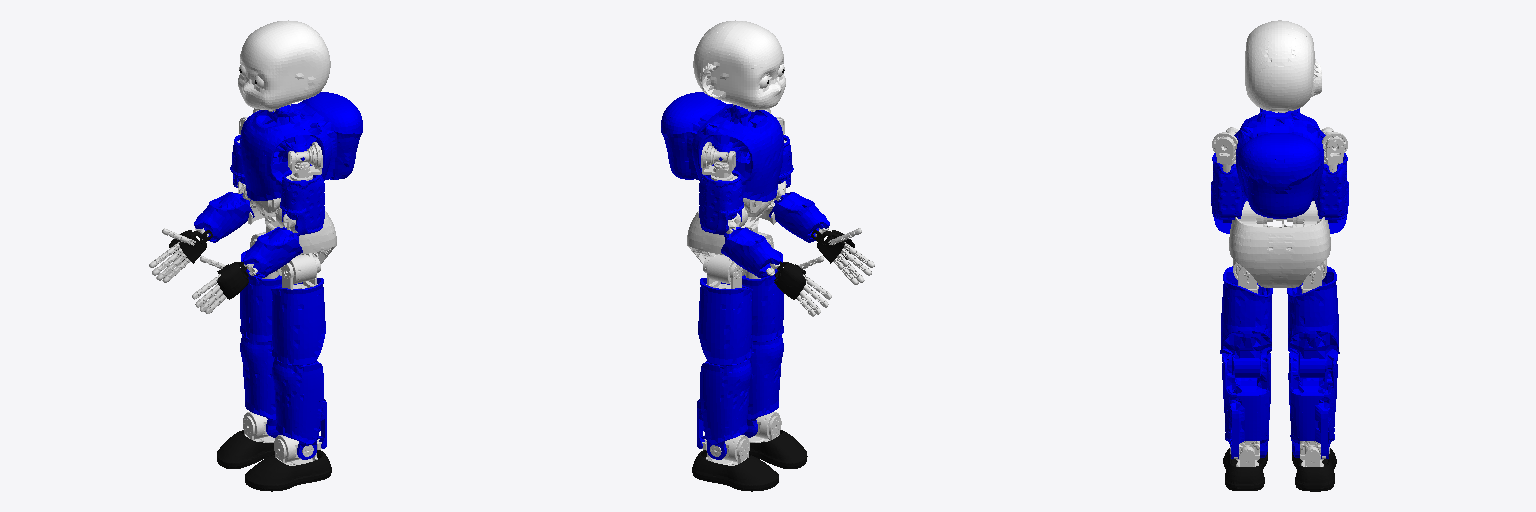
--- What the picture shows (computed from the rendered views, not written in the file) ---
3 views of the same robot in one strip: view 1: azimuth 30°, elevation 25°; view 2: azimuth 150°, elevation 25°; view 3: azimuth 270°, elevation 25° (orthographic).
Robot: iCub — 103 links, 102 joints (75 revolute, 27 fixed); root link world; default pose: all joints at 0 but 2 set to mid-range because 0 is outside their limits (r_elbow = 1.06, l_elbow = 1.06).
Visible links, largest first — view 1: chest, head, l_lower_leg, l_upper_leg, r_lower_leg, l_upper_arm, l_foot, r_upper_leg, l_forearm, r_forearm, root_link, r_foot (+4 smaller); view 2: chest, head, r_lower_leg, r_upper_leg, l_lower_leg, r_upper_arm, r_foot, l_upper_leg, r_forearm, l_forearm, root_link, l_foot (+4 smaller); view 3: chest, root_link, head, l_upper_leg, r_upper_leg, l_lower_leg, r_lower_leg, r_upper_arm, l_upper_arm, r_foot, l_foot, l_shoulder_2 (+1 smaller).
Boxes of the visible links, x1,y1,x2,y2 form: chest: [240, 92, 362, 200]; head: [238, 20, 330, 109]; l_lower_leg: [272, 359, 326, 459]; l_upper_leg: [271, 278, 325, 365]; r_lower_leg: [240, 335, 281, 437]; l_upper_arm: [280, 170, 324, 234]; l_foot: [245, 450, 331, 491]; r_upper_leg: [240, 251, 281, 341]; l_forearm: [243, 227, 302, 277]; r_forearm: [194, 192, 254, 242]; root_link: [248, 200, 336, 263]; r_foot: [217, 430, 274, 468]; chest: [661, 92, 783, 201]; head: [693, 20, 785, 109]; r_lower_leg: [697, 359, 751, 459]; r_upper_leg: [698, 278, 752, 365]; l_lower_leg: [742, 335, 783, 437]; r_upper_arm: [699, 170, 743, 234]; r_foot: [692, 450, 778, 491]; l_upper_leg: [742, 250, 783, 341]; r_forearm: [721, 227, 780, 277]; l_forearm: [769, 192, 829, 242]; root_link: [687, 200, 775, 263]; l_foot: [749, 430, 807, 468]; chest: [1234, 108, 1325, 218]; root_link: [1229, 201, 1330, 287]; head: [1245, 20, 1321, 111]; l_upper_leg: [1220, 266, 1272, 377]; r_upper_leg: [1287, 266, 1339, 377]; l_lower_leg: [1222, 352, 1270, 458]; r_lower_leg: [1288, 352, 1337, 458]; r_upper_arm: [1312, 153, 1348, 219]; l_upper_arm: [1211, 153, 1247, 219]; r_foot: [1292, 448, 1336, 491]; l_foot: [1223, 448, 1267, 490]; l_shoulder_2: [1212, 127, 1238, 164].
Bounding box of the posed robot: 0.4793 × 0.2988 × 1.08 m (x, y, z).
83 mesh visuals loaded from 83 distinct referenced files (83 OBJ).

URDF robot description (iCub):
<robot name="iCub">
<link name="world">
    <inertial>
        <mass value="0.0"/>
        <inertia ixx="0.0" ixy="0.0" ixz="0.0" iyy="0.0" iyz="0.0" izz="0.0"/>
    </inertial>
</link>
<link name="root_link">
    <inertial>
        <origin xyz="0.0248821 0.000103947 -0.0440806" rpy="1.57079632679 0.0 -1.57079632679"/>
        <mass value="5.09143"/>
        <inertia ixx="0.0139679" ixy="-5.93488e-06" ixz="-1.55458e-05" iyy="0.0202112" iyz="-0.00170968" izz="0.0249124"/>
    </inertial>
    <visual>
        <origin xyz="-0.0364 0.0 0.032" rpy="1.57079632679 0.0 -1.57079632679"/>
        <geometry>
            <mesh filename="package://iCub/meshes/visual/sim_sea_2-5_root_link_prt-binary.obj" scale="0.001 0.001 0.001"/>
        </geometry>
        <material name="root_link_color">
            <color rgba="0.9 0.9 0.9 1.0"/>
        </material>
    </visual>
    <collision>
        <origin xyz="-0.0364 0.0 0.032" rpy="1.57079632679 0.0 -1.57079632679"/>
        <geometry>
            <mesh filename="package://iCub/meshes/vhacd/sim_sea_2-5_root_link_prt-binary_vhacd.obj" scale="0.001 0.001 0.001"/>
        </geometry>
    </collision>
</link>
<link name="r_hip_1">
    <inertial>
        <origin xyz="-0.0005145 -0.0380753 -7.1e-05" rpy="1.57079632679 0.0 1.57079632679"/>
        <mass value="0.919978"/>
        <inertia ixx="0.000404268" ixy="-1.26852e-06" ixz="1.11055e-06" iyy="0.000574741" iyz="-7.69474e-07" izz="0.000580025"/>
    </inertial>
    <visual>
        <origin xyz="0.0428515000001 0.026 0.151913" rpy="1.57079632679 0.0 1.57079632679"/>
        <geometry>
            <mesh filename="package://iCub/meshes/visual/sim_sea_2-5_r_hip_1_prt-binary.obj" scale="0.001 0.001 0.001"/>
        </geometry>
        <material name="r_hip_1_color">
            <color rgba="0.9 0.9 0.9 1.0"/>
        </material>
    </visual>
    <collision>
        <origin xyz="0.0428515000001 0.026 0.151913" rpy="1.57079632679 0.0 1.57079632679"/>
        <geometry>
            <mesh filename="package://iCub/meshes/vhacd/sim_sea_2-5_r_hip_1_prt-binary_vhacd.obj" scale="0.001 0.001 0.001"/>
        </geometry>
    </collision>
</link>
<link name="r_hip_2">
    <inertial>
        <origin xyz="-0.0009315 8.09999999998e-06 -0.044809" rpy="1.57079632679 0.0 1.57079632679"/>
        <mass value="0.413242"/>
        <inertia ixx="0.00046914" ixy="-4.76597e-08" ixz="7.12496e-08" iyy="0.000277108" iyz="3.3401e-06" izz="0.000303891"/>
    </inertial>
    <visual>
        <origin xyz="0.0428514998094 0.0701 0.151913" rpy="1.57079632679 0.0 1.57079632679"/>
        <geometry>
            <mesh filename="package://iCub/meshes/visual/sim_sea_2-5_r_hip_2_prt-binary.obj" scale="0.001 0.001 0.001"/>
        </geometry>
        <material name="r_hip_2_color">
            <color rgba="0.9 0.9 0.9 1.0"/>
        </material>
    </visual>
    <collision>
        <origin xyz="0.0428514998094 0.0701 0.151913" rpy="1.57079632679 0.0 1.57079632679"/>
        <geometry>
            <mesh filename="package://iCub/meshes/vhacd/sim_sea_2-5_r_hip_2_prt-binary_vhacd.obj" scale="0.001 0.001 0.001"/>
        </geometry>
    </collision>
</link>
<link name="r_hip_3">
    <inertial>
        <origin xyz="-0.000123 -0.0002823 0.008718" rpy="-1.57079632679 0.0 -1.57079632679"/>
        <mass value="0.126212"/>
        <inertia ixx="0.01" ixy="2.67901e-07" ixz="-4.41463e-09" iyy="0.01" iyz="3.32338e-08" izz="0.01"/>
    </inertial>
    <visual>
        <origin xyz="0.0437090152 -0.0700999919 -0.226213" rpy="-1.57079632679 0.0 -1.57079632679"/>
        <geometry>
            <mesh filename="package://iCub/meshes/visual/sim_sea_2-5_r_upper_thigh_prt-binary.obj" scale="0.001 0.001 0.001"/>
        </geometry>
        <material name="r_hip_3_color">
            <color rgba="0.0 0.0 1.0 1.0"/>
        </material>
    </visual>
    <collision>
        <origin xyz="0.0437090152 -0.0700999919 -0.226213" rpy="-1.57079632679 0.0 -1.57079632679"/>
        <geometry>
            <mesh filename="package://iCub/meshes/vhacd/sim_sea_2-5_r_upper_thigh_prt-binary_vhacd.obj" scale="0.001 0.001 0.001"/>
        </geometry>
    </collision>
</link>
<link name="r_upper_leg">
    <inertial>
        <origin xyz="0.0034 -2.91e-05 -0.078954" rpy="1.57079632679 0.0 1.57079632679"/>
        <mass value="1.8035"/>
        <inertia ixx="0.00647751422999" ixy="0.000129579429588" ixz="5.48205094739e-06" iyy="0.0014593786411" iyz="-0.000136613086875" izz="0.00646720823813"/>
    </inertial>
    <visual>
        <origin xyz="0.0437090152 0.0700999919 0.240813" rpy="1.57079632679 0.0 1.57079632679"/>
        <geometry>
            <mesh filename="package://iCub/meshes/visual/sim_sea_2-5_r_thigh_prt-binary.obj" scale="0.001 0.001 0.001"/>
        </geometry>
        <material name="r_upper_leg_color">
            <color rgba="0.0 0.0 1.0 1.0"/>
        </material>
    </visual>
    <collision>
        <origin xyz="0.0437090152 0.0700999919 0.240813" rpy="1.57079632679 0.0 1.57079632679"/>
        <geometry>
            <mesh filename="package://iCub/meshes/vhacd/sim_sea_2-5_r_thigh_prt-binary_vhacd.obj" scale="0.001 0.001 0.001"/>
        </geometry>
    </collision>
</link>
<link name="r_upper_leg_dh_frame">
    <inertial>
        <mass value="0.0"/>
        <inertia ixx="0.0" ixy="0.0" ixz="0.0" iyy="0.0" iyz="0.0" izz="0.0"/>
    </inertial>
</link>
<link name="r_lower_leg">
    <inertial>
        <origin xyz="0.0012364 -0.0035131 -0.088794" rpy="1.57079632679 0.0 1.57079632679"/>
        <mass value="1.472"/>
        <inertia ixx="0.00423993167478" ixy="0.000228814548854" ixz="-5.55646459453e-05" iyy="0.00152095043447" iyz="-0.000264132979243" izz="0.00457358584206"/>
    </inertial>
    <visual>
        <origin xyz="0.0437090152 0.070099992 0.386638" rpy="1.57079632679 0.0 1.57079632679"/>
        <geometry>
            <mesh filename="package://iCub/meshes/visual/sim_sea_2-5_r_shank_prt-binary.obj" scale="0.001 0.001 0.001"/>
        </geometry>
        <material name="r_lower_leg_color">
            <color rgba="0.0 0.0 1.0 1.0"/>
        </material>
    </visual>
    <collision>
        <origin xyz="0.0437090152 0.070099992 0.386638" rpy="1.57079632679 0.0 1.57079632679"/>
        <geometry>
            <mesh filename="package://iCub/meshes/vhacd/sim_sea_2-5_r_shank_prt-binary_vhacd.obj" scale="0.001 0.001 0.001"/>
        </geometry>
    </collision>
</link>
<link name="r_ankle_1">
    <inertial>
        <origin xyz="0.0151436 -0.0008686 4.2e-05" rpy="1.57079632679 0.0 1.57079632679"/>
        <mass value="0.6803"/>
        <inertia ixx="0.000404618848932" ixy="7.49819286945e-07" ixz="-3.01349467691e-05" iyy="0.000448633654664" iyz="2.5726697409e-06" izz="0.000308235939139"/>
    </inertial>
    <visual>
        <origin xyz="0.0437090152 0.070099992 0.587138" rpy="1.57079632679 0.0 1.57079632679"/>
        <geometry>
            <mesh filename="package://iCub/meshes/visual/sim_sea_2-5_r_ankle_prt-binary.obj" scale="0.001 0.001 0.001"/>
        </geometry>
        <material name="r_ankle_1_color">
            <color rgba="0.9 0.9 0.9 1.0"/>
        </material>
    </visual>
    <collision>
        <origin xyz="0.0437090152 0.070099992 0.587138" rpy="1.57079632679 0.0 1.57079632679"/>
        <geometry>
            <mesh filename="package://iCub/meshes/vhacd/sim_sea_2-5_r_ankle_prt-binary_vhacd.obj" scale="0.001 0.001 0.001"/>
        </geometry>
    </collision>
</link>
<link name="r_ankle_2">
    <inertial>
        <origin xyz="0.0011446 3.59999999999e-06 -0.03852" rpy="1.57079632679 0.0 1.57079632679"/>
        <mass value="0.265122"/>
        <inertia ixx="0.01" ixy="-4.74606e-08" ixz="4.94571e-08" iyy="0.01" iyz="-4.29975e-06" izz="0.01"/>
    </inertial>
    <visual>
        <origin xyz="0.0437877996186 0.0700861001907 0.587138" rpy="1.57079632679 0.0 1.57079632679"/>
        <geometry>
            <mesh filename="package://iCub/meshes/visual/sim_sea_2-5_r_foot_prt-binary.obj" scale="0.001 0.001 0.001"/>
        </geometry>
        <material name="r_ankle_2_color">
            <color rgba="0.9 0.9 0.9 1.0"/>
        </material>
    </visual>
    <collision>
        <origin xyz="0.0437877996186 0.0700861001907 0.587138" rpy="1.57079632679 0.0 1.57079632679"/>
        <geometry>
            <mesh filename="package://iCub/meshes/vhacd/sim_sea_2-5_r_foot_prt-binary_vhacd.obj" scale="0.001 0.001 0.001"/>
        </geometry>
    </collision>
</link>
<link name="r_foot">
    <inertial>
        <origin xyz="0.0336001 0.0053719 -0.001147" rpy="-1.57079632679 0.0 -1.57079632679"/>
        <mass value="0.382866"/>
        <inertia ixx="0.00120946" ixy="3.74585e-07" ixz="-5.78759e-05" iyy="0.00141439" iyz="-7.80325e-06" izz="0.000273599"/>
    </inertial>
    <visual>
        <origin xyz="0.047209015 -0.070099992 -0.647438000286" rpy="-1.57079632679 0.0 -1.57079632679"/>
        <geometry>
            <mesh filename="package://iCub/meshes/visual/sim_sea_2-5_r_sole_prt-binary.obj" scale="0.001 0.001 0.001"/>
        </geometry>
        <material name="r_foot_color">
            <color rgba="0.1 0.1 0.1 1.0"/>
        </material>
    </visual>
    <collision>
        <origin xyz="0.047209015 -0.070099992 -0.647438000286" rpy="-1.57079632679 0.0 -1.57079632679"/>
        <geometry>
            <mesh filename="package://iCub/meshes/vhacd/sim_sea_2-5_r_sole_prt-binary_vhacd.obj" scale="0.001 0.001 0.001"/>
        </geometry>
        <material name="r_foot_color">
            <color rgba="0.1 0.1 0.1 1.0"/>
        </material>
    </collision>
</link>
<link name="l_hip_1">
    <inertial>
        <origin xyz="-0.0005108 0.0380923 -8.3e-05" rpy="1.57079632679 0.0 1.57079632679"/>
        <mass value="0.919725"/>
        <inertia ixx="0.000404539" ixy="1.18502e-06" ixz="-9.64514e-07" iyy="0.000573315" iyz="-1.06028e-06" izz="0.000578982"/>
    </inertial>
    <visual>
        <origin xyz="0.0428515000001 -0.026 0.151913" rpy="1.57079632679 0.0 1.57079632679"/>
        <geometry>
            <mesh filename="package://iCub/meshes/visual/sim_sea_2-5_l_hip_1_prt-binary.obj" scale="0.001 0.001 0.001"/>
        </geometry>
        <material name="l_hip_1_color">
            <color rgba="0.9 0.9 0.9 1.0"/>
        </material>
    </visual>
    <collision>
        <origin xyz="0.0428515000001 -0.026 0.151913" rpy="1.57079632679 0.0 1.57079632679"/>
        <geometry>
            <mesh filename="package://iCub/meshes/vhacd/sim_sea_2-5_l_hip_1_prt-binary_vhacd.obj" scale="0.001 0.001 0.001"/>
        </geometry>
    </collision>
</link>
<link name="l_hip_2">
    <inertial>
        <origin xyz="-0.0011063 1.73e-05 -0.044574" rpy="1.57079632679 0.0 1.57079632679"/>
        <mass value="0.415987"/>
        <inertia ixx="0.000475741" ixy="2.89355e-07" ixz="-6.72876e-08" iyy="0.000279828" iyz="6.7417e-06" izz="0.000307828"/>
    </inertial>
    <visual>
        <origin xyz="0.0428514998093 -0.0701 0.151913" rpy="1.57079632679 0.0 1.57079632679"/>
        <geometry>
            <mesh filename="package://iCub/meshes/visual/sim_sea_2-5_l_hip_2_prt-binary.obj" scale="0.001 0.001 0.001"/>
        </geometry>
        <material name="l_hip_2_color">
            <color rgba="0.9 0.9 0.9 1.0"/>
        </material>
    </visual>
    <collision>
        <origin xyz="0.0428514998093 -0.0701 0.151913" rpy="1.57079632679 0.0 1.57079632679"/>
        <geometry>
            <mesh filename="package://iCub/meshes/vhacd/sim_sea_2-5_l_hip_2_prt-binary_vhacd.obj" scale="0.001 0.001 0.001"/>
        </geometry>
    </collision>
</link>
<link name="l_hip_3">
    <inertial>
        <origin xyz="-0.0001229 -0.0002823 0.008718" rpy="-1.57079632679 0.0 -1.57079632679"/>
        <mass value="0.126212"/>
        <inertia ixx="0.01" ixy="2.67901e-07" ixz="-4.41463e-09" iyy="0.01" iyz="3.32338e-08" izz="0.01"/>
    </inertial>
    <visual>
        <origin xyz="0.0437090614 0.0701000246 -0.226213" rpy="-1.57079632679 0.0 -1.57079632679"/>
        <geometry>
            <mesh filename="package://iCub/meshes/visual/sim_sea_2-5_l_upper_thigh_prt-binary.obj" scale="0.001 0.001 0.001"/>
        </geometry>
        <material name="l_hip_3_color">
            <color rgba="0.0 0.0 1.0 1.0"/>
        </material>
    </visual>
    <collision>
        <origin xyz="0.0437090614 0.0701000246 -0.226213" rpy="-1.57079632679 0.0 -1.57079632679"/>
        <geometry>
            <mesh filename="package://iCub/meshes/vhacd/sim_sea_2-5_l_upper_thigh_prt-binary_vhacd.obj" scale="0.001 0.001 0.001"/>
        </geometry>
    </collision>
</link>
<link name="l_upper_leg">
    <inertial>
        <origin xyz="0.0033869 0.0001018 -0.078916" rpy="1.57079632679 0.0 1.57079632679"/>
        <mass value="1.8084"/>
        <inertia ixx="0.00648512673084" ixy="-0.00012421121424" ixz="-3.97399421479e-06" iyy="0.00146250529833" iyz="-0.00013681806888" izz="0.00647619242046"/>
    </inertial>
    <visual>
        <origin xyz="0.0437090614 -0.0701000246 0.240813" rpy="1.57079632679 0.0 1.57079632679"/>
        <geometry>
            <mesh filename="package://iCub/meshes/visual/sim_sea_2-5_l_thigh_prt-binary.obj" scale="0.001 0.001 0.001"/>
        </geometry>
        <material name="l_upper_leg_color">
            <color rgba="0.0 0.0 1.0 1.0"/>
        </material>
    </visual>
    <collision>
        <origin xyz="0.0437090614 -0.0701000246 0.240813" rpy="1.57079632679 0.0 1.57079632679"/>
        <geometry>
            <mesh filename="package://iCub/meshes/vhacd/sim_sea_2-5_l_thigh_prt-binary_vhacd.obj" scale="0.001 0.001 0.001"/>
        </geometry>
    </collision>
</link>
<link name="l_upper_leg_dh_frame">
    <inertial>
        <mass value="0.0"/>
        <inertia ixx="0.0" ixy="0.0" ixz="0.0" iyy="0.0" iyz="0.0" izz="0.0"/>
    </inertial>
</link>
<link name="l_lower_leg">
    <inertial>
        <origin xyz="0.0009998 0.0034969 -0.088567" rpy="1.57079632679 0.0 1.57079632679"/>
        <mass value="1.4724"/>
        <inertia ixx="0.00423698606499" ixy="-0.000239615181423" ixz="6.76166218238e-05" iyy="0.00152221313636" iyz="-0.00023314283575" izz="0.00457007183207"/>
    </inertial>
    <visual>
        <origin xyz="0.0437090614 -0.0701000248 0.386638" rpy="1.57079632679 0.0 1.57079632679"/>
        <geometry>
            <mesh filename="package://iCub/meshes/visual/sim_sea_2-5_l_shank_prt-binary.obj" scale="0.001 0.001 0.001"/>
        </geometry>
        <material name="l_lower_leg_color">
            <color rgba="0.0 0.0 1.0 1.0"/>
        </material>
    </visual>
    <collision>
        <origin xyz="0.0437090614 -0.0701000248 0.386638" rpy="1.57079632679 0.0 1.57079632679"/>
        <geometry>
            <mesh filename="package://iCub/meshes/vhacd/sim_sea_2-5_l_shank_prt-binary_vhacd.obj" scale="0.001 0.001 0.001"/>
        </geometry>
    </collision>
</link>
<link name="l_ankle_1">
    <inertial>
        <origin xyz="0.0151531 0.000902 4.2e-05" rpy="1.57079632679 0.0 1.57079632679"/>
        <mass value="0.6798"/>
        <inertia ixx="0.000404474297345" ixy="-1.13226038781e-06" ixz="3.04665105776e-05" iyy="0.00044788735407" iyz="2.57265834141e-06" izz="0.000307603045377"/>
    </inertial>
    <visual>
        <origin xyz="0.0437090614 -0.0701000248 0.587138" rpy="1.57079632679 0.0 1.57079632679"/>
        <geometry>
            <mesh filename="package://iCub/meshes/visual/sim_sea_2-5_l_ankle_prt-binary.obj" scale="0.001 0.001 0.001"/>
        </geometry>
        <material name="l_ankle_1_color">
            <color rgba="0.9 0.9 0.9 1.0"/>
        </material>
    </visual>
    <collision>
        <origin xyz="0.0437090614 -0.0701000248 0.587138" rpy="1.57079632679 0.0 1.57079632679"/>
        <geometry>
            <mesh filename="package://iCub/meshes/vhacd/sim_sea_2-5_l_ankle_prt-binary_vhacd.obj" scale="0.001 0.001 0.001"/>
        </geometry>
    </collision>
</link>
<link name="l_ankle_2">
    <inertial>
        <origin xyz="0.0011447 3.59999999998e-06 -0.03852" rpy="1.57079632679 0.0 1.57079632679"/>
        <mass value="0.265122"/>
        <inertia ixx="0.01" ixy="-4.74606e-08" ixz="4.94571e-08" iyy="0.01" iyz="-4.29975e-06" izz="0.01"/>
    </inertial>
    <visual>
        <origin xyz="0.0436816996186 -0.0701752001908 0.587138" rpy="1.57079632679 0.0 1.57079632679"/>
        <geometry>
            <mesh filename="package://iCub/meshes/visual/sim_sea_2-5_l_foot_prt-binary.obj" scale="0.001 0.001 0.001"/>
        </geometry>
        <material name="l_ankle_2_color">
            <color rgba="0.9 0.9 0.9 1.0"/>
        </material>
    </visual>
    <collision>
        <origin xyz="0.0436816996186 -0.0701752001908 0.587138" rpy="1.57079632679 0.0 1.57079632679"/>
        <geometry>
            <mesh filename="package://iCub/meshes/vhacd/sim_sea_2-5_l_foot_prt-binary_vhacd.obj" scale="0.001 0.001 0.001"/>
        </geometry>
    </collision>
</link>
<link name="l_foot">
    <inertial>
        <origin xyz="0.0336669 -0.0053735 -0.001164" rpy="-1.57079632679 0.0 -1.57079632679"/>
        <mass value="0.382968"/>
        <inertia ixx="0.00121242" ixy="-3.69533e-07" ixz="5.79273e-05" iyy="0.00141712" iyz="-7.64972e-06" izz="0.000273846"/>
    </inertial>
    <visual>
        <origin xyz="0.0472090612 0.0701000248 -0.647438000286" rpy="-1.57079632679 0.0 -1.57079632679"/>
        <geometry>
            <mesh filename="package://iCub/meshes/visual/sim_sea_2-5_l_sole_prt-binary.obj" scale="0.001 0.001 0.001"/>
        </geometry>
        <material name="l_foot_color">
            <color rgba="0.1 0.1 0.1 1.0"/>
        </material>
    </visual>
    <collision>
        <origin xyz="0.0472090612 0.0701000248 -0.647438000286" rpy="-1.57079632679 0.0 -1.57079632679"/>
        <geometry>
            <mesh filename="package://iCub/meshes/vhacd/sim_sea_2-5_l_sole_prt-binary_vhacd.obj" scale="0.001 0.001 0.001"/>
        </geometry>
        <material name="l_foot_color">
            <color rgba="0.1 0.1 0.1 1.0"/>
        </material>
    </collision>
</link>
<link name="torso_1">
    <inertial>
        <origin xyz="0.0270921359 0.02914798 -0.0004398" rpy="0.0 0.0 0.0"/>
        <mass value="0.67144"/>
        <inertia ixx="0.00040911" ixy="-1.04522e-06" ixz="-1.02516e-06" iyy="0.000384141" iyz="6.50708e-06" izz="0.000299445"/>
    </inertial>
    <visual>
        <origin xyz="0.0270462998093 0.032 0.0364" rpy="0.0 0.0 0.0"/>
        <geometry>
            <mesh filename="package://iCub/meshes/visual/sim_sea_2-5_lap_belt_1_prt-binary.obj" scale="0.001 0.001 0.001"/>
        </geometry>
        <material name="torso_1_color">
            <color rgba="0.9 0.9 0.9 1.0"/>
        </material>
    </visual>
    <collision>
        <origin xyz="0.0270462998093 0.032 0.0364" rpy="0.0 0.0 0.0"/>
        <geometry>
            <mesh filename="package://iCub/meshes/vhacd/sim_sea_2-5_lap_belt_1_prt-binary_vhacd.obj" scale="0.001 0.001 0.001"/>
        </geometry>
    </collision>
</link>
<link name="torso_2">
    <inertial>
        <origin xyz="-0.000113507809265 0.0361525 0.0570963" rpy="0.0 0.0 0.0"/>
        <mass value="0.425685"/>
        <inertia ixx="0.000829234" ixy="2.37006e-08" ixz="9.25231e-08" iyy="0.000436517" iyz="-1.74814e-07" izz="0.000604802"/>
    </inertial>
    <visual>
        <origin xyz="0.0 0.1433 0.0386531" rpy="0.0 0.0 0.0"/>
        <geometry>
            <mesh filename="package://iCub/meshes/visual/sim_sea_2-5_lap_belt_2_prt-binary.obj" scale="0.001 0.001 0.001"/>
        </geometry>
        <material name="torso_2_color">
            <color rgba="0.9 0.9 0.9 1.0"/>
        </material>
    </visual>
    <collision>
        <origin xyz="0.0 0.1433 0.0386531" rpy="0.0 0.0 0.0"/>
        <geometry>
            <mesh filename="package://iCub/meshes/vhacd/sim_sea_2-5_lap_belt_2_prt-binary_vhacd.obj" scale="0.001 0.001 0.001"/>
        </geometry>
    </collision>
</link>
<link name="chest">
    <inertial>
        <origin xyz="0.000188619190735 0.073091 -0.0472381" rpy="0.0 0.0 0.0"/>
        <mass value="7.638"/>
        <inertia ixx="0.0430324878618" ixy="2.91075388804e-05" ixz="0.000181985229949" iyy="0.0440835725548" iyz="-0.000429106409108" izz="0.0260563249911"/>
    </inertial>
    <visual>
        <origin xyz="0.0 0.0928 -0.024189" rpy="0.0 0.0 0.0"/>
        <geometry>
            <mesh filename="package://iCub/meshes/visual/sim_sea_2-5_chest_bb_prt-binary.obj" scale="0.001 0.001 0.001"/>
        </geometry>
        <material name="chest_color">
            <color rgba="0.0 0.0 1.0 1.0"/>
        </material>
    </visual>
    <collision>
        <origin xyz="0.0 0.0928 -0.024189" rpy="0.0 0.0 0.0"/>
        <geometry>
            <mesh filename="package://iCub/meshes/vhacd/sim_sea_2-5_chest_bb_prt-binary_vhacd.obj" scale="0.001 0.001 0.001"/>
        </geometry>
    </collision>
</link>
<link name="r_shoulder_1">
    <inertial>
        <origin xyz="-0.0122656014133 3.2e-05 -0.00321064290449" rpy="0.0 0.0 0.0"/>
        <mass value="0.114862"/>
        <inertia ixx="0.01" ixy="-1.65173e-08" ixz="-3.55626e-06" iyy="0.01" iyz="-6.13337e-08" izz="0.01"/>
    </inertial>
    <visual>
        <origin xyz="0.0990079253076 0.0 -0.0265292487558" rpy="0.0 0.0 0.0"/>
        <geometry>
            <mesh filename="package://iCub/meshes/visual/sim_sea_2-5_r_shoulder_1_prt-binary.obj" scale="0.001 0.001 0.001"/>
        </geometry>
        <material name="r_shoulder_1_color">
            <color rgba="0.9 0.9 0.9 1.0"/>
        </material>
    </visual>
    <collision>
        <origin xyz="0.0990079253076 0.0 -0.0265292487558" rpy="0.0 0.0 0.0"/>
        <geometry>
            <mesh filename="package://iCub/meshes/vhacd/sim_sea_2-5_r_shoulder_1_prt-binary_vhacd.obj" scale="0.001 0.001 0.001"/>
        </geometry>
    </collision>
</link>
<link name="r_shoulder_2">
    <inertial>
        <origin xyz="-0.0214141709438 0.000271725272551 -0.0194402344535" rpy="0.0 0.0 0.0"/>
        <mass value="0.238162"/>
        <inertia ixx="0.01" ixy="-1.12091e-07" ixz="1.02574e-05" iyy="0.01" iyz="1.19785e-06" izz="0.01"/>
    </inertial>
    <visual>
        <origin xyz="0.106587808568 2.31914715418e-07 -0.0407392121175" rpy="0.0 0.0 0.0"/>
        <geometry>
            <mesh filename="package://iCub/meshes/visual/sim_sea_2-5_r_shoulder_2_prt-binary.obj" scale="0.001 0.001 0.001"/>
        </geometry>
        <material name="r_shoulder_2_color">
            <color rgba="0.9 0.9 0.9 1.0"/>
        </material>
    </visual>
    <collision>
        <origin xyz="0.106587808568 2.31914715418e-07 -0.0407392121175" rpy="0.0 0.0 0.0"/>
        <geometry>
            <mesh filename="package://iCub/meshes/vhacd/sim_sea_2-5_r_shoulder_2_prt-binary_vhacd.obj" scale="0.001 0.001 0.001"/>
        </geometry>
    </collision>
</link>
<link name="r_shoulder_3">
    <inertial>
        <origin xyz="-0.0267620766871 -6.99999999998e-06 0.0146999207713" rpy="0.0 0.0 0.0"/>
        <mass value="0.35913"/>
        <inertia ixx="0.01" ixy="3.60361e-07" ixz="4.94445e-05" iyy="0.01" iyz="2.65919e-07" izz="0.01"/>
    </inertial>
    <visual>
        <origin xyz="0.131933879164 0.0 -0.0353515667647" rpy="0.0 0.0 0.0"/>
        <geometry>
            <mesh filename="package://iCub/meshes/visual/sim_sea_2-5_r_upper_arm_prt-binary.obj" scale="0.001 0.001 0.001"/>
        </geometry>
        <material name="r_shoulder_3_color">
            <color rgba="0.9 0.9 0.9 1.0"/>
        </material>
    </visual>
    <collision>
        <origin xyz="0.131933879164 0.0 -0.0353515667647" rpy="0.0 0.0 0.0"/>
        <geometry>
            <mesh filename="package://iCub/meshes/vhacd/sim_sea_2-5_r_upper_arm_prt-binary_vhacd.obj" scale="0.001 0.001 0.001"/>
        </geometry>
    </collision>
</link>
<link name="r_upper_arm">
    <inertial>
        <origin xyz="-0.006087 0.000126 0.0293121" rpy="0.0 1.30899700697 0.0"/>
        <mass value="0.745104"/>
        <inertia ixx="0.000509527" ixy="1.19292e-06" ixz="-1.17426e-05" iyy="0.000668487" iyz="1.13363e-06" izz="0.000599254"/>
    </inertial>
    <visual>
        <origin xyz="-0.015 0.0 -0.1933" rpy="0.0 1.30899700697 0.0"/>
        <geometry>
            <mesh filename="package://iCub/meshes/visual/sim_sea_2-5_r_elbow_prt-binary.obj" scale="0.001 0.001 0.001"/>
        </geometry>
        <material name="r_upper_arm_color">
            <color rgba="0.0 0.0 1.0 1.0"/>
        </material>
    </visual>
    <collision>
        <origin xyz="-0.015 0.0 -0.1933" rpy="0.0 1.30899700697 0.0"/>
        <geometry>
            <mesh filename="package://iCub/meshes/vhacd/sim_sea_2-5_r_elbow_prt-binary_vhacd.obj" scale="0.001 0.001 0.001"/>
        </geometry>
    </collision>
</link>
<link name="r_elbow_1">
    <inertial>
        <origin xyz="-0.00673912932843 0.0188019 -0.00465769236154" rpy="0.0 0.0 0.0"/>
        <mass value="0.267903"/>
        <inertia ixx="0.01" ixy="7.36974e-06" ixz="-1.04536e-05" iyy="0.01" iyz="3.92498e-06" izz="0.01"/>
    </inertial>
    <visual>
        <origin xyz="0.259390463317 0.0224999 -0.0850325886962" rpy="0.0 0.0 0.0"/>
        <geometry>
            <mesh filename="package://iCub/meshes/visual/sim_sea_2-5_r_elbow_prosup_prt-binary.obj" scale="0.001 0.001 0.001"/>
        </geometry>
        <material name="r_elbow_1_color">
            <color rgba="0.9 0.9 0.9 1.0"/>
        </material>
    </visual>
    <collision>
        <origin xyz="0.259390463317 0.0224999 -0.0850325886962" rpy="0.0 0.0 0.0"/>
        <geometry>
            <mesh filename="package://iCub/meshes/vhacd/sim_sea_2-5_r_elbow_prosup_prt-binary_vhacd.obj" scale="0.001 0.001 0.001"/>
        </geometry>
    </collision>
</link>
<link name="r_forearm">
    <inertial>
        <origin xyz="-0.0404391133886 -0.000328 0.00532733448387" rpy="0.0 0.0 0.0"/>
        <mass value="0.6347"/>
        <inertia ixx="0.000370044" ixy="-1.65419e-06" ixz="0.00010538" iyy="0.000672279" iyz="1.1456e-06" izz="0.000553637"/>
    </inertial>
    <visual>
        <origin xyz="0.296886967375 0.0 -0.0795506015227" rpy="0.0 0.0 0.0"/>
        <geometry>
            <mesh filename="package://iCub/meshes/visual/sim_sea_2-5_r_forearm_prt-binary.obj" scale="0.001 0.001 0.001"/>
        </geometry>
        <material name="r_forearm_color">
            <color rgba="0.0 0.0 1.0 1.0"/>
        </material>
    </visual>
    <collision>
        <origin xyz="0.296886967375 0.0 -0.0795506015227" rpy="0.0 0.0 0.0"/>
        <geometry>
            <mesh filename="package://iCub/meshes/vhacd/sim_sea_2-5_r_forearm_prt-binary_vhacd.obj" scale="0.001 0.001 0.001"/>
        </geometry>
    </collision>
</link>
<link name="r_forearm_dh_frame">
    <inertial>
        <mass value="0.0"/>
        <inertia ixx="0.0" ixy="0.0" ixz="0.0" iyy="0.0" iyz="0.0" izz="0.0"/>
    </inertial>
</link>
<link name="r_wrist_1">
    <inertial>
        <origin xyz="0.000986101955547 -0.001176 0.00410132736724" rpy="0.0 0.0 0.0"/>
        <mass value="0.0362615"/>
        <inertia ixx="0.01" ixy="-3.10462e-08" ixz="-9.44554e-07" iyy="0.01" iyz="-1.59685e-07" izz="0.01"/>
    </inertial>
    <visual>
        <origin xyz="0.400392176248 -7.00000000009e-06 -0.104748304516" rpy="0.0 0.0 0.0"/>
        <geometry>
            <mesh filename="package://iCub/meshes/visual/sim_sea_2-5_r_wrist_pitch_prt-binary.obj" scale="0.001 0.001 0.001"/>
        </geometry>
        <material name="r_wrist_1_color">
            <color rgba="0.9 0.9 0.9 1.0"/>
        </material>
    </visual>
    <collision>
        <origin xyz="0.400392176248 -7.00000000009e-06 -0.104748304516" rpy="0.0 0.0 0.0"/>
        <geometry>
            <mesh filename="package://iCub/meshes/vhacd/sim_sea_2-5_r_wrist_pitch_prt-binary_vhacd.obj" scale="0.001 0.001 0.001"/>
        </geometry>
    </collision>
</link>
<link name="r_hand">
    <inertial>
        <origin xyz="-0.064668163717 0.0056002 0.0226812940918" rpy="0.0 0.0 0.0"/>
        <mass value="0.248289"/>
        <inertia ixx="0.01" ixy="-2.3536e-06" ixz="3.61526e-05" iyy="0.01" iyz="2.07146e-05" izz="0.01"/>
    </inertial>
    <visual>
        <origin xyz="0.00271606739979117 -0.00155679999998751 -0.00248235390712302" rpy="-1.57079632679979 0.261799319827 2.0696157436707e-13"/>
        <geometry>
            <mesh filename="package://iCub/meshes/visual/full_r_hand.obj" scale="1.0 1.0 1.0"/>
        </geometry>
        <material name="r_hand_palm_color">
            <color rgba="0.1 0.1 0.1 1.0"/>
        </material>
    </visual>
    <collision>
        <origin xyz="0.00271606739979117 -0.00155679999998751 -0.00248235390712302" rpy="-1.57079632679979 0.261799319827 2.0696157436707e-13"/>
        <geometry>
            <mesh filename="package://iCub/meshes/vhacd/full_r_hand_vhacd.obj" scale="1.0 1.0 1.0"/>
        </geometry>
    </collision>
</link>
<link name="r_hand_dh_frame">
    <inertial>
        <mass value="0.0"/>
        <inertia ixx="0.0" ixy="0.0" ixz="0.0" iyy="0.0" iyz="0.0" izz="0.0"/>
    </inertial>
</link>
<link name="r_hand_thumb_0">
    <inertial>
        <origin xyz="0.0 0.0 0.0" rpy="0.0 0.0 0.0"/>
        <mass value="0.01"/>
        <inertia ixx="0.001" ixy="0.0" ixz="0.0" iyy="0.001" iyz="0.0" izz="0.001"/>
    </inertial>
    <visual>
        <origin xyz="0.0 0.0 0.0" rpy="0.0 3.14159265359 1.57079632679"/>
        <geometry>
            <mesh filename="package://iCub/meshes/visual/full_RightThumb0.obj" scale="1.0 1.0 1.0"/>
        </geometry>
        <material name="r_hand_thumb_0_color">
            <color rgba="0.9 0.9 0.9 1.0"/>
        </material>
    </visual>
    <collision>
        <max_contacts>
        </max_contacts>
        <origin xyz="0.0 0.0 0.0" rpy="0.0 3.14159265359 1.57079632679"/>
        <geometry>
            <mesh filename="package://iCub/meshes/vhacd/full_RightThumb0_vhacd.obj" scale="1.0 1.0 1.0"/>
        </geometry>
    </collision>
</link>
<link name="r_hand_thumb_1">
    <inertial>
        <origin xyz="0.0 0.0 0.0" rpy="0.0 0.0 0.0"/>
        <mass value="0.01"/>
        <inertia ixx="0.001" ixy="0.0" ixz="0.0" iyy="0.001" iyz="0.0" izz="0.001"/>
    </inertial>
    <visual>
        <origin xyz="0.0 0.0 0.0" rpy="3.14159265358979 0.0 0.0"/>
        <geometry>
            <mesh filename="package://iCub/meshes/visual/full_RightThumb1.obj" scale="1.0 1.0 1.0"/>
        </geometry>
        <material name="r_hand_thumb_1_color">
            <color rgba="0.9 0.9 0.9 1.0"/>
        </material>
    </visual>
    <collision>
        <max_contacts>
        </max_contacts>
        <origin xyz="0.0 0.0 0.0" rpy="3.14159265358979 0.0 0.0"/>
        <geometry>
            <mesh filename="package://iCub/meshes/vhacd/full_RightThumb1_vhacd.obj" scale="1.0 1.0 1.0"/>
        </geometry>
    </collision>
</link>
<link name="r_hand_thumb_2">
    <inertial>
        <origin xyz="0.0 0.0 0.0" rpy="0.0 0.0 0.0"/>
        <mass value="0.01"/>
        <inertia ixx="0.001" ixy="0.0" ixz="0.0" iyy="0.001" iyz="0.0" izz="0.001"/>
    </inertial>
    <visual>
        <origin xyz="0.0 0.0 0.0" rpy="3.14159265358979 0.0 0.0"/>
        <geometry>
            <mesh filename="package://iCub/meshes/visual/full_RightThumb2.obj" scale="1.0 1.0 1.0"/>
        </geometry>
        <material name="r_hand_thumb_2_color">
            <color rgba="0.9 0.9 0.9 1.0"/>
        </material>
    </visual>
    <collision>
        <max_contacts>
        </max_contacts>
        <origin xyz="0.0 0.0 0.0" rpy="3.14159265358979 0.0 0.0"/>
        <geometry>
            <mesh filename="package://iCub/meshes/vhacd/full_RightThumb2_vhacd.obj" scale="1.0 1.0 1.0"/>
        </geometry>
    </collision>
</link>
<link name="r_hand_thumb_3">
    <inertial>
        <origin xyz="0.0 0.0 0.0" rpy="0.0 0.0 0.0"/>
        <mass value="0.01"/>
        <inertia ixx="0.001" ixy="0.0" ixz="0.0" iyy="0.001" iyz="0.0" izz="0.001"/>
    </inertial>
    <visual>
        <origin xyz="0.0 0.0 0.0" rpy="0.0 0.0 3.14159265358979"/>
        <geometry>
            <mesh filename="package://iCub/meshes/visual/full_RightThumb3.obj" scale="1.0 1.0 1.0"/>
        </geometry>
        <material name="r_hand_thumb_3_color">
            <color rgba="0.9 0.9 0.9 1.0"/>
        </material>
    </visual>
    <collision>
        <max_contacts>
        </max_contacts>
        <origin xyz="0.0 0.0 0.0" rpy="0.0 0.0 3.14159265358979"/>
        <geometry>
            <mesh filename="package://iCub/meshes/vhacd/full_RightThumb3_vhacd.obj" scale="1.0 1.0 1.0"/>
        </geometry>
    </collision>
</link>
<link name="r_hand_thumb_tip">
    <inertial>
        <mass value="0.0"/>
        <inertia ixx="0.0" ixy="0.0" ixz="0.0" iyy="0.0" iyz="0.0" izz="0.0"/>
    </inertial>
</link>
<link name="r_hand_index_0">
    <inertial>
        <origin xyz="0.0 0.0 0.0" rpy="0.0 0.0 0.0"/>
        <mass value="0.01"/>
        <inertia ixx="0.001" ixy="0.0" ixz="0.0" iyy="0.001" iyz="0.0" izz="0.001"/>
    </inertial>
    <visual>
        <origin xyz="0.0 0.0 0.0" rpy="3.14159265358979 0.0 3.14159265358979"/>
        <geometry>
            <mesh filename="package://iCub/meshes/visual/full_RightIndex0.obj" scale="1.0 1.0 1.0"/>
        </geometry>
        <material name="r_hand_index_0_color">
            <color rgba="0.9 0.9 0.9 1.0"/>
        </material>
    </visual>
    <collision>
        <max_contacts>
        </max_contacts>
        <origin xyz="0.0 0.0 0.0" rpy="3.14159265358979 0.0 3.14159265358979"/>
        <geometry>
            <mesh filename="package://iCub/meshes/vhacd/full_RightIndex0_vhacd.obj" scale="1.0 1.0 1.0"/>
        </geometry>
    </collision>
</link>
<link name="r_hand_index_1">
    <inertial>
        <origin xyz="0.0 0.0 0.0" rpy="0.0 0.0 0.0"/>
        <mass value="0.01"/>
        <inertia ixx="0.001" ixy="0.0" ixz="0.0" iyy="0.001" iyz="0.0" izz="0.001"/>
    </inertial>
    <visual>
        <origin xyz="0.0 0.0 0.0" rpy="3.14159265358979 0.0 0.0"/>
        <geometry>
            <mesh filename="package://iCub/meshes/visual/full_RightIndex1.obj" scale="1.0 1.0 1.0"/>
        </geometry>
        <material name="r_hand_index_1_color">
            <color rgba="0.9 0.9 0.9 1.0"/>
        </material>
    </visual>
    <collision>
        <max_contacts>
        </max_contacts>
        <origin xyz="0.0 0.0 0.0" rpy="3.14159265358979 0.0 0.0"/>
        <geometry>
            <mesh filename="package://iCub/meshes/vhacd/full_RightIndex1_vhacd.obj" scale="1.0 1.0 1.0"/>
        </geometry>
    </collision>
</link>
<link name="r_hand_index_2">
    <inertial>
        <origin xyz="0.0 0.0 0.0" rpy="0.0 0.0 0.0"/>
        <mass value="0.01"/>
        <inertia ixx="0.001" ixy="0.0" ixz="0.0" iyy="0.001" iyz="0.0" izz="0.001"/>
    </inertial>
    <visual>
        <origin xyz="0.0 0.0 0.0" rpy="3.14159265358979 0.0 0.0"/>
        <geometry>
            <mesh filename="package://iCub/meshes/visual/full_RightIndex2.obj" scale="1.0 1.0 1.0"/>
        </geometry>
        <material name="r_hand_index_2_color">
            <color rgba="0.9 0.9 0.9 1.0"/>
        </material>
    </visual>
    <collision>
        <max_contacts>
        </max_contacts>
        <origin xyz="0.0 0.0 0.0" rpy="3.14159265358979 0.0 0.0"/>
        <geometry>
            <mesh filename="package://iCub/meshes/vhacd/full_RightIndex2_vhacd.obj" scale="1.0 1.0 1.0"/>
        </geometry>
    </collision>
</link>
<link name="r_hand_index_3">
    <inertial>
        <origin xyz="0.0 0.0 0.0" rpy="0.0 0.0 0.0"/>
        <mass value="0.01"/>
        <inertia ixx="0.001" ixy="0.0" ixz="0.0" iyy="0.001" iyz="0.0" izz="0.001"/>
    </inertial>
    <visual>
        <origin xyz="0.0 0.0 0.0" rpy="3.14159265358979 0.0 3.14159265358979"/>
        <geometry>
            <mesh filename="package://iCub/meshes/visual/full_RightIndex3.obj" scale="1.0 1.0 1.0"/>
        </geometry>
        <material name="r_hand_index_3_color">
            <color rgba="0.9 0.9 0.9 1.0"/>
        </material>
    </visual>
    <collision>
        <max_contacts>
        </max_contacts>
        <origin xyz="0.0 0.0 0.0" rpy="3.14159265358979 0.0 3.14159265358979"/>
        <geometry>
            <mesh filename="package://iCub/meshes/vhacd/full_RightIndex3_vhacd.obj" scale="1.0 1.0 1.0"/>
        </geometry>
    </collision>
</link>
<link name="r_hand_index_tip">
    <inertial>
        <mass value="0.0"/>
        <inertia ixx="0.0" ixy="0.0" ixz="0.0" iyy="0.0" iyz="0.0" izz="0.0"/>
    </inertial>
</link>
<link name="r_hand_middle_0">
    <inertial>
        <origin xyz="0.0 0.0 0.0" rpy="0.0 0.0 0.0"/>
        <mass value="0.01"/>
        <inertia ixx="0.001" ixy="0.0" ixz="0.0" iyy="0.001" iyz="0.0" izz="0.001"/>
    </inertial>
    <visual>
        <origin xyz="0.0 0.0 0.0035" rpy="0.0 0.0 0.0"/>
        <geometry>
            <mesh filename="package://iCub/meshes/visual/full_RightMiddle0.obj" scale="1.0 1.0 1.0"/>
        </geometry>
        <material name="r_hand_middle_0_color">
            <color rgba="0.9 0.9 0.9 1.0"/>
        </material>
    </visual>
    <collision>
        <max_contacts>
        </max_contacts>
        <origin xyz="0.0 0.0 0.0035" rpy="0.0 0.0 0.0"/>
        <geometry>
            <mesh filename="package://iCub/meshes/vhacd/full_RightMiddle0_vhacd.obj" scale="1.0 1.0 1.0"/>
        </geometry>
    </collision>
</link>
<link name="r_hand_middle_1">
    <inertial>
        <origin xyz="0.0 0.0 0.0" rpy="0.0 0.0 0.0"/>
        <mass value="0.01"/>
        <inertia ixx="0.001" ixy="0.0" ixz="0.0" iyy="0.001" iyz="0.0" izz="0.001"/>
    </inertial>
    <visual>
        <origin xyz="0.0 0.0 0.0" rpy="3.14159265358979 0.0 0.0"/>
        <geometry>
            <mesh filename="package://iCub/meshes/visual/full_RightMiddle1.obj" scale="1.0 1.0 1.0"/>
        </geometry>
        <material name="r_hand_middle_1_color">
            <color rgba="0.9 0.9 0.9 1.0"/>
        </material>
    </visual>
    <collision>
        <max_contacts>
        </max_contacts>
        <origin xyz="0.0 0.0 0.0" rpy="3.14159265358979 0.0 0.0"/>
        <geometry>
            <mesh filename="package://iCub/meshes/vhacd/full_RightMiddle1_vhacd.obj" scale="1.0 1.0 1.0"/>
        </geometry>
    </collision>
</link>
<link name="r_hand_middle_2">
    <inertial>
        <origin xyz="0.0 0.0 0.0" rpy="0.0 0.0 0.0"/>
        <mass value="0.01"/>
        <inertia ixx="0.001" ixy="0.0" ixz="0.0" iyy="0.001" iyz="0.0" izz="0.001"/>
    </inertial>
    <visual>
        <origin xyz="0.0 0.0 0.0" rpy="0.0 0.0 3.14159265358979"/>
        <geometry>
            <mesh filename="package://iCub/meshes/visual/full_RightMiddle2.obj" scale="1.0 1.0 1.0"/>
        </geometry>
        <material name="r_hand_middle_2_color">
            <color rgba="0.9 0.9 0.9 1.0"/>
        </material>
    </visual>
    <collision>
        <max_contacts>
        </max_contacts>
        <origin xyz="0.0 0.0 0.0" rpy="0.0 0.0 3.14159265358979"/>
        <geometry>
            <mesh filename="package://iCub/meshes/vhacd/full_RightMiddle2_vhacd.obj" scale="1.0 1.0 1.0"/>
        </geometry>
    </collision>
</link>
<link name="r_hand_middle_3">
    <inertial>
        <origin xyz="0.0 0.0 0.0" rpy="0.0 0.0 0.0"/>
        <mass value="0.01"/>
        <inertia ixx="0.001" ixy="0.0" ixz="0.0" iyy="0.001" iyz="0.0" izz="0.001"/>
    </inertial>
    <visual>
        <origin xyz="0.0 0.0 0.0" rpy="0.0 0.0 3.14159265358979"/>
        <geometry>
            <mesh filename="package://iCub/meshes/visual/full_RightMiddle3.obj" scale="1.0 1.0 1.0"/>
        </geometry>
        <material name="r_hand_middle_3_color">
            <color rgba="0.9 0.9 0.9 1.0"/>
        </material>
    </visual>
    <collision>
        <max_contacts>
        </max_contacts>
        <origin xyz="0.0 0.0 0.0" rpy="0.0 0.0 3.14159265358979"/>
        <geometry>
            <mesh filename="package://iCub/meshes/vhacd/full_RightMiddle3_vhacd.obj" scale="1.0 1.0 1.0"/>
        </geometry>
    </collision>
</link>
<link name="r_hand_middle_tip">
    <inertial>
        <mass value="0.0"/>
        <inertia ixx="0.0" ixy="0.0" ixz="0.0" iyy="0.0" iyz="0.0" izz="0.0"/>
    </inertial>
</link>
<link name="r_hand_ring_0">
    <inertial>
        <origin xyz="0.0 0.0 0.0" rpy="0.0 0.0 0.0"/>
        <mass value="0.01"/>
        <inertia ixx="0.001" ixy="0.0" ixz="0.0" iyy="0.001" iyz="0.0" izz="0.001"/>
    </inertial>
    <visual>
        <origin xyz="0.0 0.0 0.0" rpy="3.14159265358979 0.0 3.14159265358979"/>
        <geometry>
            <mesh filename="package://iCub/meshes/visual/full_RightRing0.obj" scale="1.0 1.0 1.0"/>
        </geometry>
        <material name="r_hand_ring_0_color">
            <color rgba="0.9 0.9 0.9 1.0"/>
        </material>
    </visual>
    <collision>
        <max_contacts>
        </max_contacts>
        <origin xyz="0.0 0.0 0.0" rpy="3.14159265358979 0.0 3.14159265358979"/>
        <geometry>
            <mesh filename="package://iCub/meshes/vhacd/full_RightRing0_vhacd.obj" scale="1.0 1.0 1.0"/>
        </geometry>
    </collision>
</link>
<link name="r_hand_ring_1">
    <inertial>
        <origin xyz="0.0 0.0 0.0" rpy="0.0 0.0 0.0"/>
        <mass value="0.01"/>
        <inertia ixx="0.001" ixy="0.0" ixz="0.0" iyy="0.001" iyz="0.0" izz="0.001"/>
    </inertial>
    <visual>
        <origin xyz="0.0 0.0 0.0" rpy="0.0 0.0 0.0"/>
        <geometry>
            <mesh filename="package://iCub/meshes/visual/full_RightRing1.obj" scale="1.0 1.0 1.0"/>
        </geometry>
        <material name="r_hand_ring_1_color">
            <color rgba="0.9 0.9 0.9 1.0"/>
        </material>
    </visual>
    <collision>
        <max_contacts>
        </max_contacts>
        <origin xyz="0.0 0.0 0.0" rpy="0.0 0.0 0.0"/>
        <geometry>
            <mesh filename="package://iCub/meshes/vhacd/full_RightRing1_vhacd.obj" scale="1.0 1.0 1.0"/>
        </geometry>
    </collision>
</link>
<link name="r_hand_ring_2">
    <inertial>
        <origin xyz="0.0 0.0 0.0" rpy="0.0 0.0 0.0"/>
        <mass value="0.01"/>
        <inertia ixx="0.001" ixy="0.0" ixz="0.0" iyy="0.001" iyz="0.0" izz="0.001"/>
    </inertial>
    <visual>
        <origin xyz="0.0 0.0 0.0" rpy="3.14159265358979 0.0 0.0"/>
        <geometry>
            <mesh filename="package://iCub/meshes/visual/full_RightRing2.obj" scale="1.0 1.0 1.0"/>
        </geometry>
        <material name="r_hand_ring_2_color">
            <color rgba="0.9 0.9 0.9 1.0"/>
        </material>
    </visual>
    <collision>
        <max_contacts>
        </max_contacts>
        <origin xyz="0.0 0.0 0.0" rpy="3.14159265358979 0.0 0.0"/>
        <geometry>
            <mesh filename="package://iCub/meshes/vhacd/full_RightRing2_vhacd.obj" scale="1.0 1.0 1.0"/>
        </geometry>
    </collision>
</link>
<link name="r_hand_ring_3">
    <inertial>
        <origin xyz="0.0 0.0 0.0" rpy="0.0 0.0 0.0"/>
        <mass value="0.01"/>
        <inertia ixx="0.001" ixy="0.0" ixz="0.0" iyy="0.001" iyz="0.0" izz="0.001"/>
    </inertial>
    <visual>
        <origin xyz="0.0 0.0 0.0" rpy="3.14159265358979 0.0 3.14159265358979"/>
        <geometry>
            <mesh filename="package://iCub/meshes/visual/full_RightRing3.obj" scale="1.0 1.0 1.0"/>
        </geometry>
        <material name="r_hand_ring_3_color">
            <color rgba="0.9 0.9 0.9 1.0"/>
        </material>
    </visual>
    <collision>
        <max_contacts>
        </max_contacts>
        <origin xyz="0.0 0.0 0.0" rpy="3.14159265358979 0.0 3.14159265358979"/>
        <geometry>
            <mesh filename="package://iCub/meshes/vhacd/full_RightRing3_vhacd.obj" scale="1.0 1.0 1.0"/>
        </geometry>
    </collision>
</link>
<link name="r_hand_ring_tip">
    <inertial>
        <mass value="0.0"/>
        <inertia ixx="0.0" ixy="0.0" ixz="0.0" iyy="0.0" iyz="0.0" izz="0.0"/>
    </inertial>
</link>
<link name="r_hand_little_0">
    <inertial>
        <origin xyz="0.0 0.0 0.0" rpy="0.0 0.0 0.0"/>
        <mass value="0.01"/>
        <inertia ixx="0.001" ixy="0.0" ixz="0.0" iyy="0.001" iyz="0.0" izz="0.001"/>
    </inertial>
    <visual>
        <origin xyz="0.0 0.0 0.0038" rpy="0.0 0.0 0.0"/>
        <geometry>
            <mesh filename="package://iCub/meshes/visual/full_RightLittle0.obj" scale="1.0 1.0 1.0"/>
        </geometry>
        <material name="r_hand_little_0_color">
            <color rgba="0.9 0.9 0.9 1.0"/>
        </material>
    </visual>
    <collision>
        <max_contacts>
        </max_contacts>
        <origin xyz="0.0 0.0 0.0038" rpy="0.0 0.0 0.0"/>
        <geometry>
            <mesh filename="package://iCub/meshes/vhacd/full_RightLittle0_vhacd.obj" scale="1.0 1.0 1.0"/>
        </geometry>
    </collision>
</link>
<link name="r_hand_little_1">
    <inertial>
        <origin xyz="0.0 0.0 0.0" rpy="0.0 0.0 0.0"/>
        <mass value="0.01"/>
        <inertia ixx="0.001" ixy="0.0" ixz="0.0" iyy="0.001" iyz="0.0" izz="0.001"/>
    </inertial>
    <visual>
        <origin xyz="0.0 0.0 0.0" rpy="3.14159265358979 0.0 0.0"/>
        <geometry>
            <mesh filename="package://iCub/meshes/visual/full_RightLittle1.obj" scale="1.0 1.0 1.0"/>
        </geometry>
        <material name="r_hand_little_1_color">
            <color rgba="0.9 0.9 0.9 1.0"/>
        </material>
    </visual>
    <collision>
        <max_contacts>
        </max_contacts>
        <origin xyz="0.0 0.0 0.0" rpy="3.14159265358979 0.0 0.0"/>
        <geometry>
            <mesh filename="package://iCub/meshes/vhacd/full_RightLittle1_vhacd.obj" scale="1.0 1.0 1.0"/>
        </geometry>
    </collision>
</link>
<link name="r_hand_little_2">
    <inertial>
        <origin xyz="0.0 0.0 0.0" rpy="0.0 0.0 0.0"/>
        <mass value="0.01"/>
        <inertia ixx="0.001" ixy="0.0" ixz="0.0" iyy="0.001" iyz="0.0" izz="0.001"/>
    </inertial>
    <visual>
        <origin xyz="0.0 0.0 0.0" rpy="3.14159265358979 0.0 0.0"/>
        <geometry>
            <mesh filename="package://iCub/meshes/visual/full_RightLittle2.obj" scale="1.0 1.0 1.0"/>
        </geometry>
        <material name="r_hand_little_2_color">
            <color rgba="0.9 0.9 0.9 1.0"/>
        </material>
    </visual>
    <collision>
        <max_contacts>
        </max_contacts>
        <origin xyz="0.0 0.0 0.0" rpy="3.14159265358979 0.0 0.0"/>
        <geometry>
            <mesh filename="package://iCub/meshes/vhacd/full_RightLittle2_vhacd.obj" scale="1.0 1.0 1.0"/>
        </geometry>
    </collision>
</link>
<link name="r_hand_little_3">
    <inertial>
        <origin xyz="0.0 0.0 0.0" rpy="0.0 0.0 0.0"/>
        <mass value="0.01"/>
        <inertia ixx="0.001" ixy="0.0" ixz="0.0" iyy="0.001" iyz="0.0" izz="0.001"/>
    </inertial>
    <visual>
        <origin xyz="0.0 0.0 0.0" rpy="3.14159265358979 0.0 3.14159265358979"/>
        <geometry>
            <mesh filename="package://iCub/meshes/visual/full_RightLittle3.obj" scale="1.0 1.0 1.0"/>
        </geometry>
        <material name="r_hand_little_3_color">
            <color rgba="0.9 0.9 0.9 1.0"/>
        </material>
    </visual>
    <collision>
        <max_contacts>
        </max_contacts>
        <origin xyz="0.0 0.0 0.0" rpy="3.14159265358979 0.0 3.14159265358979"/>
        <geometry>
            <mesh filename="package://iCub/meshes/vhacd/full_RightLittle3_vhacd.obj" scale="1.0 1.0 1.0"/>
        </geometry>
    </collision>
</link>
<link name="r_hand_little_tip">
    <inertial>
        <mass value="0.0"/>
        <inertia ixx="0.0" ixy="0.0" ixz="0.0" iyy="0.0" iyz="0.0" izz="0.0"/>
    </inertial>
</link>
<link name="l_shoulder_1">
    <inertial>
        <origin xyz="-0.008985 -3.3e-05 -0.0088998" rpy="0.0 0.0 0.0"/>
        <mass value="0.114882"/>
        <inertia ixx="0.01" ixy="-1.77064e-08" ixz="3.55951e-06" iyy="0.01" iyz="6.57597e-08" izz="0.01"/>
    </inertial>
    <visual>
        <origin xyz="-0.120257482 0.0 -0.032223" rpy="0.0 0.0 0.0"/>
        <geometry>
            <mesh filename="package://iCub/meshes/visual/sim_sea_2-5_l_shoulder_1_prt-binary.obj" scale="0.001 0.001 0.001"/>
        </geometry>
        <material name="l_shoulder_1_color">
            <color rgba="0.9 0.9 0.9 1.0"/>
        </material>
    </visual>
    <collision>
        <origin xyz="-0.120257482 0.0 -0.032223" rpy="0.0 0.0 0.0"/>
        <geometry>
            <mesh filename="package://iCub/meshes/vhacd/sim_sea_2-5_l_shoulder_1_prt-binary_vhacd.obj" scale="0.001 0.001 0.001"/>
        </geometry>
    </collision>
</link>
<link name="l_shoulder_2">
    <inertial>
        <origin xyz="0.0214745951272 0.000268957899687 -0.0194107361535" rpy="0.0 0.0 0.0"/>
        <mass value="0.238162"/>
        <inertia ixx="0.01" ixy="1.19701e-07" ixz="-1.29687e-05" iyy="0.01" iyz="1.20112e-06" izz="0.01"/>
    </inertial>
    <visual>
        <origin xyz="-0.106586691581 1.10800934344e-07 -0.040743380771" rpy="0.0 0.0 0.0"/>
        <geometry>
            <mesh filename="package://iCub/meshes/visual/sim_sea_2-5_l_shoulder_2_prt-binary.obj" scale="0.001 0.001 0.001"/>
        </geometry>
        <material name="l_shoulder_2_color">
            <color rgba="0.9 0.9 0.9 1.0"/>
        </material>
    </visual>
    <collision>
        <origin xyz="-0.106586691581 1.10800934344e-07 -0.040743380771" rpy="0.0 0.0 0.0"/>
        <geometry>
            <mesh filename="package://iCub/meshes/vhacd/sim_sea_2-5_l_shoulder_2_prt-binary_vhacd.obj" scale="0.001 0.001 0.001"/>
        </geometry>
    </collision>
</link>
<link name="l_shoulder_3">
    <inertial>
        <origin xyz="0.026798412222 -1.6e-05 0.0146956806177" rpy="0.0 0.0 0.0"/>
        <mass value="0.35913"/>
        <inertia ixx="0.01" ixy="-2.22441e-07" ixz="-4.95846e-05" iyy="0.01" iyz="1.07538e-07" izz="0.01"/>
    </inertial>
    <visual>
        <origin xyz="-0.131901037685 0.0 -0.0353427669194" rpy="0.0 0.0 0.0"/>
        <geometry>
            <mesh filename="package://iCub/meshes/visual/sim_sea_2-5_l_upper_arm_prt-binary.obj" scale="0.001 0.001 0.001"/>
        </geometry>
        <material name="l_shoulder_3_color">
            <color rgba="0.9 0.9 0.9 1.0"/>
        </material>
    </visual>
    <collision>
        <origin xyz="-0.131901037685 0.0 -0.0353427669194" rpy="0.0 0.0 0.0"/>
        <geometry>
            <mesh filename="package://iCub/meshes/vhacd/sim_sea_2-5_l_upper_arm_prt-binary_vhacd.obj" scale="0.001 0.001 0.001"/>
        </geometry>
    </collision>
</link>
<link name="l_upper_arm">
    <inertial>
        <origin xyz="-0.006121 -0.000189 0.0293684" rpy="0.0 -1.30899700697 -3.14159265359"/>
        <mass value="0.746799"/>
        <inertia ixx="0.000509731" ixy="-6.90767e-07" ixz="1.20048e-05" iyy="0.00067086" iyz="3.11833e-06" izz="0.000601202"/>
    </inertial>
    <visual>
        <origin xyz="-0.015 0.0 -0.1933" rpy="0.0 -1.30899700697 -3.14159265359"/>
        <geometry>
            <mesh filename="package://iCub/meshes/visual/sim_sea_2-5_l_elbow_prt-binary.obj" scale="0.001 0.001 0.001"/>
        </geometry>
        <material name="l_upper_arm_color">
            <color rgba="0.0 0.0 1.0 1.0"/>
        </material>
    </visual>
    <collision>
        <origin xyz="-0.015 0.0 -0.1933" rpy="0.0 -1.30899700697 -3.14159265359"/>
        <geometry>
            <mesh filename="package://iCub/meshes/vhacd/sim_sea_2-5_l_elbow_prt-binary_vhacd.obj" scale="0.001 0.001 0.001"/>
        </geometry>
    </collision>
</link>
<link name="l_elbow_1">
    <inertial>
        <origin xyz="0.00673912932843 0.0303019 -0.00465769236154" rpy="0.0 0.0 0.0"/>
        <mass value="0.267903"/>
        <inertia ixx="0.01" ixy="-7.37159e-06" ixz="1.04505e-05" iyy="0.01" iyz="3.9319e-06" izz="0.01"/>
    </inertial>
    <visual>
        <origin xyz="-0.259390463317 0.0339999 -0.0850325886962" rpy="0.0 0.0 0.0"/>
        <geometry>
            <mesh filename="package://iCub/meshes/visual/sim_sea_2-5_l_elbow_prosup_prt-binary.obj" scale="0.001 0.001 0.001"/>
        </geometry>
        <material name="l_elbow_1_color">
            <color rgba="0.9 0.9 0.9 1.0"/>
        </material>
    </visual>
    <collision>
        <origin xyz="-0.259390463317 0.0339999 -0.0850325886962" rpy="0.0 0.0 0.0"/>
        <geometry>
            <mesh filename="package://iCub/meshes/vhacd/sim_sea_2-5_l_elbow_prosup_prt-binary_vhacd.obj" scale="0.001 0.001 0.001"/>
        </geometry>
    </collision>
</link>
<link name="l_forearm">
    <inertial>
        <origin xyz="0.0404511828823 -0.000686 0.00532363214379" rpy="0.0 0.0 0.0"/>
        <mass value="0.636185"/>
        <inertia ixx="0.000371447" ixy="4.34562e-06" ixz="-0.000105871" iyy="0.000674229" iyz="4.05222e-06" izz="0.000557115"/>
    </inertial>
    <visual>
        <origin xyz="-0.296886967375 0.0 -0.0795506015227" rpy="0.0 0.0 0.0"/>
        <geometry>
            <mesh filename="package://iCub/meshes/visual/sim_sea_2-5_l_forearm_prt-binary.obj" scale="0.001 0.001 0.001"/>
        </geometry>
        <material name="l_forearm_color">
            <color rgba="0.0 0.0 1.0 1.0"/>
        </material>
    </visual>
    <collision>
        <origin xyz="-0.296886967375 0.0 -0.0795506015227" rpy="0.0 0.0 0.0"/>
        <geometry>
            <mesh filename="package://iCub/meshes/vhacd/sim_sea_2-5_l_forearm_prt-binary_vhacd.obj" scale="0.001 0.001 0.001"/>
        </geometry>
    </collision>
</link>
<link name="l_forearm_dh_frame">
    <inertial>
        <mass value="0.0"/>
        <inertia ixx="0.0" ixy="0.0" ixz="0.0" iyy="0.0" iyz="0.0" izz="0.0"/>
    </inertial>
</link>
<link name="l_wrist_1">
    <inertial>
        <origin xyz="-0.000981313804428 -0.001178 0.00408345773913" rpy="0.0 0.0 0.0"/>
        <mass value="0.0362152"/>
        <inertia ixx="0.01" ixy="3.08362e-08" ixz="9.42153e-07" iyy="0.01" iyz="-1.58924e-07" izz="0.01"/>
    </inertial>
    <visual>
        <origin xyz="-0.400314530555 -7.00000000009e-06 -0.105038082269" rpy="0.0 0.0 0.0"/>
        <geometry>
            <mesh filename="package://iCub/meshes/visual/sim_sea_2-5_l_wrist_pitch_prt-binary.obj" scale="0.001 0.001 0.001"/>
        </geometry>
        <material name="l_wrist_1_color">
            <color rgba="0.9 0.9 0.9 1.0"/>
        </material>
    </visual>
    <collision>
        <origin xyz="-0.400314530555 -7.00000000009e-06 -0.105038082269" rpy="0.0 0.0 0.0"/>
        <geometry>
            <mesh filename="package://iCub/meshes/vhacd/sim_sea_2-5_l_wrist_pitch_prt-binary_vhacd.obj" scale="0.001 0.001 0.001"/>
        </geometry>
    </collision>
</link>
<link name="l_hand">
    <inertial>
        <origin xyz="0.0647680204057 0.0056304 0.0226602208449" rpy="0.0 0.0 0.0"/>
        <mass value="0.247806"/>
        <inertia ixx="0.01" ixy="2.96453e-06" ixz="-3.68906e-05" iyy="0.01" iyz="2.06885e-05" izz="0.01"/>
    </inertial>
    <visual>
        <origin xyz="-0.00271606739980213 -0.0015568 -0.00248235390708518" rpy="1.57079632679979 -0.261799319827 3.32244804390038e-17"/>
        <geometry>
            <mesh filename="package://iCub/meshes/visual/full_l_hand.obj" scale="1.0 1.0 1.0"/>
        </geometry>
        <material name="l_hand_palm_color">
            <color rgba="0.1 0.1 0.1 1.0"/>
        </material>
    </visual>
    <collision>
        <origin xyz="-0.00271606739980213 -0.0015568 -0.00248235390708518" rpy="1.57079632679979 -0.261799319827 3.32244804390038e-17"/>
        <geometry>
            <mesh filename="package://iCub/meshes/vhacd/full_l_hand_vhacd.obj" scale="1.0 1.0 1.0"/>
        </geometry>
    </collision>
</link>
<link name="l_hand_dh_frame">
    <inertial>
        <mass value="0.0"/>
        <inertia ixx="0.0" ixy="0.0" ixz="0.0" iyy="0.0" iyz="0.0" izz="0.0"/>
    </inertial>
</link>
<link name="l_hand_thumb_0">
    <inertial>
        <origin xyz="0.0 0.0 0.0" rpy="0.0 0.0 0.0"/>
        <mass value="0.01"/>
        <inertia ixx="0.001" ixy="0.0" ixz="0.0" iyy="0.001" iyz="0.0" izz="0.001"/>
    </inertial>
    <visual>
        <origin xyz="0.0 0.0 0.0" rpy="3.14159265358979 0.0 0.0"/>
        <geometry>
            <mesh filename="package://iCub/meshes/visual/full_LeftThumb0.obj" scale="1.0 1.0 1.0"/>
        </geometry>
        <material name="r_hand_thumb_0_color">
            <color rgba="0.9 0.9 0.9 1.0"/>
        </material>
    </visual>
    <collision>
        <max_contacts>
        </max_contacts>
        <origin xyz="0.0 0.0 0.0" rpy="3.14159265358979 0.0 0.0"/>
        <geometry>
            <mesh filename="package://iCub/meshes/vhacd/full_LeftThumb0_vhacd.obj" scale="1.0 1.0 1.0"/>
        </geometry>
    </collision>
</link>
<link name="l_hand_thumb_1">
    <inertial>
        <origin xyz="0.0 0.0 0.0" rpy="0.0 0.0 0.0"/>
        <mass value="0.01"/>
        <inertia ixx="0.001" ixy="0.0" ixz="0.0" iyy="0.001" iyz="0.0" izz="0.001"/>
    </inertial>
    <visual>
        <origin xyz="0.0 0.0 0.0" rpy="3.14159265358979 0.0 3.14159265358979"/>
        <geometry>
            <mesh filename="package://iCub/meshes/visual/full_LeftThumb1.obj" scale="1.0 1.0 1.0"/>
        </geometry>
        <material name="r_hand_thumb_1_color">
            <color rgba="0.9 0.9 0.9 1.0"/>
        </material>
    </visual>
    <collision>
        <max_contacts>
        </max_contacts>
        <origin xyz="0.0 0.0 0.0" rpy="3.14159265358979 0.0 3.14159265358979"/>
        <geometry>
            <mesh filename="package://iCub/meshes/vhacd/full_LeftThumb1_vhacd.obj" scale="1.0 1.0 1.0"/>
        </geometry>
    </collision>
</link>
<link name="l_hand_thumb_2">
    <inertial>
        <origin xyz="0.0 0.0 0.0" rpy="0.0 0.0 0.0"/>
        <mass value="0.01"/>
        <inertia ixx="0.001" ixy="0.0" ixz="0.0" iyy="0.001" iyz="0.0" izz="0.001"/>
    </inertial>
    <visual>
        <origin xyz="0.0 0.0 0.0" rpy="0.0 0.0 3.14159265358979"/>
        <geometry>
            <mesh filename="package://iCub/meshes/visual/full_LeftThumb2.obj" scale="1.0 1.0 1.0"/>
        </geometry>
        <material name="r_hand_thumb_2_color">
            <color rgba="0.9 0.9 0.9 1.0"/>
        </material>
    </visual>
    <collision>
        <max_contacts>
        </max_contacts>
        <origin xyz="0.0 0.0 0.0" rpy="0.0 0.0 3.14159265358979"/>
        <geometry>
            <mesh filename="package://iCub/meshes/vhacd/full_LeftThumb2_vhacd.obj" scale="1.0 1.0 1.0"/>
        </geometry>
    </collision>
</link>
<link name="l_hand_thumb_3">
    <inertial>
        <origin xyz="0.0 0.0 0.0" rpy="0.0 0.0 0.0"/>
        <mass value="0.01"/>
        <inertia ixx="0.001" ixy="0.0" ixz="0.0" iyy="0.001" iyz="0.0" izz="0.001"/>
    </inertial>
    <visual>
        <origin xyz="0.0 0.0 0.0" rpy="0.0 3.14159265358979 0.0"/>
        <geometry>
            <mesh filename="package://iCub/meshes/visual/full_LeftThumb3.obj" scale="1.0 1.0 1.0"/>
        </geometry>
        <material name="r_hand_thumb_3_color">
            <color rgba="0.9 0.9 0.9 1.0"/>
        </material>
    </visual>
    <collision>
        <max_contacts>
        </max_contacts>
        <origin xyz="0.0 0.0 0.0" rpy="0.0 3.14159265358979 0.0"/>
        <geometry>
            <mesh filename="package://iCub/meshes/vhacd/full_LeftThumb3_vhacd.obj" scale="1.0 1.0 1.0"/>
        </geometry>
    </collision>
</link>
<link name="l_hand_thumb_tip">
    <inertial>
        <mass value="0.0"/>
        <inertia ixx="0.0" ixy="0.0" ixz="0.0" iyy="0.0" iyz="0.0" izz="0.0"/>
    </inertial>
</link>
<link name="l_hand_index_0">
    <inertial>
        <origin xyz="0.0 0.0 0.0" rpy="0.0 0.0 0.0"/>
        <mass value="0.01"/>
        <inertia ixx="0.001" ixy="0.0" ixz="0.0" iyy="0.001" iyz="0.0" izz="0.001"/>
    </inertial>
    <visual>
        <origin xyz="0.0 0.0 0.0" rpy="0.0 0.0 0.0"/>
        <geometry>
            <mesh filename="package://iCub/meshes/visual/full_LeftIndex0.obj" scale="1.0 1.0 1.0"/>
        </geometry>
        <material name="r_hand_index_0_color">
            <color rgba="0.9 0.9 0.9 1.0"/>
        </material>
    </visual>
    <collision>
        <max_contacts>
        </max_contacts>
        <origin xyz="0.0 0.0 0.0" rpy="0.0 0.0 0.0"/>
        <geometry>
            <mesh filename="package://iCub/meshes/vhacd/full_LeftIndex0_vhacd.obj" scale="1.0 1.0 1.0"/>
        </geometry>
    </collision>
</link>
<link name="l_hand_index_1">
    <inertial>
        <origin xyz="0.0 0.0 0.0" rpy="0.0 0.0 0.0"/>
        <mass value="0.01"/>
        <inertia ixx="0.001" ixy="0.0" ixz="0.0" iyy="0.001" iyz="0.0" izz="0.001"/>
    </inertial>
    <visual>
        <origin xyz="0.0 0.0 0.0" rpy="0.0 0.0 3.14159265358979"/>
        <geometry>
            <mesh filename="package://iCub/meshes/visual/full_LeftIndex1.obj" scale="1.0 1.0 1.0"/>
        </geometry>
        <material name="r_hand_index_1_color">
            <color rgba="0.9 0.9 0.9 1.0"/>
        </material>
    </visual>
    <collision>
        <max_contacts>
        </max_contacts>
        <origin xyz="0.0 0.0 0.0" rpy="0.0 0.0 3.14159265358979"/>
        <geometry>
            <mesh filename="package://iCub/meshes/vhacd/full_LeftIndex1_vhacd.obj" scale="1.0 1.0 1.0"/>
        </geometry>
    </collision>
</link>
<link name="l_hand_index_2">
    <inertial>
        <origin xyz="0.0 0.0 0.0" rpy="0.0 0.0 0.0"/>
        <mass value="0.01"/>
        <inertia ixx="0.001" ixy="0.0" ixz="0.0" iyy="0.001" iyz="0.0" izz="0.001"/>
    </inertial>
    <visual>
        <origin xyz="0.0 0.0 0.0" rpy="0.0 0.0 3.14159265358979"/>
        <geometry>
            <mesh filename="package://iCub/meshes/visual/full_LeftIndex2.obj" scale="1.0 1.0 1.0"/>
        </geometry>
        <material name="r_hand_index_2_color">
            <color rgba="0.9 0.9 0.9 1.0"/>
        </material>
    </visual>
    <collision>
        <max_contacts>
        </max_contacts>
        <origin xyz="0.0 0.0 0.0" rpy="0.0 0.0 3.14159265358979"/>
        <geometry>
            <mesh filename="package://iCub/meshes/vhacd/full_LeftIndex2_vhacd.obj" scale="1.0 1.0 1.0"/>
        </geometry>
    </collision>
</link>
<link name="l_hand_index_3">
    <inertial>
        <origin xyz="0.0 0.0 0.0" rpy="0.0 0.0 0.0"/>
        <mass value="0.01"/>
        <inertia ixx="0.001" ixy="0.0" ixz="0.0" iyy="0.001" iyz="0.0" izz="0.001"/>
    </inertial>
    <visual>
        <origin xyz="0.0 0.0 0.0" rpy="3.14159265358979 0.0 3.14159265358979"/>
        <geometry>
            <mesh filename="package://iCub/meshes/visual/full_LeftIndex3.obj" scale="1.0 1.0 1.0"/>
        </geometry>
        <material name="r_hand_index_3_color">
            <color rgba="0.9 0.9 0.9 1.0"/>
        </material>
    </visual>
    <collision>
        <max_contacts>
        </max_contacts>
        <origin xyz="0.0 0.0 0.0" rpy="3.14159265358979 0.0 3.14159265358979"/>
        <geometry>
            <mesh filename="package://iCub/meshes/vhacd/full_LeftIndex3_vhacd.obj" scale="1.0 1.0 1.0"/>
        </geometry>
    </collision>
</link>
<link name="l_hand_index_tip">
    <inertial>
        <mass value="0.0"/>
        <inertia ixx="0.0" ixy="0.0" ixz="0.0" iyy="0.0" iyz="0.0" izz="0.0"/>
    </inertial>
</link>
<link name="l_hand_middle_0">
    <inertial>
        <origin xyz="0.0 0.0 0.0" rpy="0.0 0.0 0.0"/>
        <mass value="0.01"/>
        <inertia ixx="0.001" ixy="0.0" ixz="0.0" iyy="0.001" iyz="0.0" izz="0.001"/>
    </inertial>
    <visual>
        <origin xyz="0.0 0.0 0.0" rpy="3.14159265358979 0.0 1.5707963267949"/>
        <geometry>
            <mesh filename="package://iCub/meshes/visual/full_LeftMiddle0.obj" scale="1.0 1.0 1.0"/>
        </geometry>
        <material name="r_hand_middle_0_color">
            <color rgba="0.9 0.9 0.9 1.0"/>
        </material>
    </visual>
    <collision>
        <origin xyz="0.0 0.0 0.0" rpy="3.14159265358979 0.0 1.5707963267949"/>
        <geometry>
            <mesh filename="package://iCub/meshes/vhacd/full_LeftMiddle0_vhacd.obj" scale="1.0 1.0 1.0"/>
        </geometry>
    </collision>
</link>
<link name="l_hand_middle_1">
    <inertial>
        <origin xyz="0.0 0.0 0.0" rpy="0.0 0.0 0.0"/>
        <mass value="0.01"/>
        <inertia ixx="0.001" ixy="0.0" ixz="0.0" iyy="0.001" iyz="0.0" izz="0.001"/>
    </inertial>
    <visual>
        <origin xyz="0.0 0.0 0.0" rpy="0.0 0.0 3.14159265358979"/>
        <geometry>
            <mesh filename="package://iCub/meshes/visual/full_LeftMiddle1.obj" scale="1.0 1.0 1.0"/>
        </geometry>
        <material name="r_hand_middle_1_color">
            <color rgba="0.9 0.9 0.9 1.0"/>
        </material>
    </visual>
    <collision>
        <max_contacts>
        </max_contacts>
        <origin xyz="0.0 0.0 0.0" rpy="0.0 0.0 3.14159265358979"/>
        <geometry>
            <mesh filename="package://iCub/meshes/vhacd/full_LeftMiddle1_vhacd.obj" scale="1.0 1.0 1.0"/>
        </geometry>
    </collision>
</link>
<link name="l_hand_middle_2">
    <inertial>
        <origin xyz="0.0 0.0 0.0" rpy="0.0 0.0 0.0"/>
        <mass value="0.01"/>
        <inertia ixx="0.001" ixy="0.0" ixz="0.0" iyy="0.001" iyz="0.0" izz="0.001"/>
    </inertial>
    <visual>
        <origin xyz="0.0 0.0 0.0" rpy="0.0 0.0 3.14159265358979"/>
        <geometry>
            <mesh filename="package://iCub/meshes/visual/full_LeftMiddle2.obj" scale="1.0 1.0 1.0"/>
        </geometry>
        <material name="r_hand_middle_2_color">
            <color rgba="0.9 0.9 0.9 1.0"/>
        </material>
    </visual>
    <collision>
        <max_contacts>
        </max_contacts>
        <origin xyz="0.0 0.0 0.0" rpy="0.0 0.0 3.14159265358979"/>
        <geometry>
            <mesh filename="package://iCub/meshes/vhacd/full_LeftMiddle2_vhacd.obj" scale="1.0 1.0 1.0"/>
        </geometry>
    </collision>
</link>
<link name="l_hand_middle_3">
    <inertial>
        <origin xyz="0.0 0.0 0.0" rpy="0.0 0.0 0.0"/>
        <mass value="0.01"/>
        <inertia ixx="0.001" ixy="0.0" ixz="0.0" iyy="0.001" iyz="0.0" izz="0.001"/>
    </inertial>
    <visual>
        <origin xyz="0.0 0.0 0.0" rpy="0.0 0.0 3.14159265358979"/>
        <geometry>
            <mesh filename="package://iCub/meshes/visual/full_LeftMiddle3.obj" scale="1.0 1.0 1.0"/>
        </geometry>
        <material name="r_hand_middle_3_color">
            <color rgba="0.9 0.9 0.9 1.0"/>
        </material>
    </visual>
    <collision>
        <max_contacts>
        </max_contacts>
        <origin xyz="0.0 0.0 0.0" rpy="0.0 0.0 3.14159265358979"/>
        <geometry>
            <mesh filename="package://iCub/meshes/vhacd/full_LeftMiddle3_vhacd.obj" scale="1.0 1.0 1.0"/>
        </geometry>
    </collision>
</link>
<link name="l_hand_middle_tip">
    <inertial>
        <mass value="0.0"/>
        <inertia ixx="0.0" ixy="0.0" ixz="0.0" iyy="0.0" iyz="0.0" izz="0.0"/>
    </inertial>
</link>
<link name="l_hand_ring_0">
    <inertial>
        <origin xyz="0.0 0.0 0.0" rpy="0.0 0.0 0.0"/>
        <mass value="0.01"/>
        <inertia ixx="0.001" ixy="0.0" ixz="0.0" iyy="0.001" iyz="0.0" izz="0.001"/>
    </inertial>
    <visual>
        <origin xyz="0.0 0.0 0.0" rpy="0.0 0.0 0.0"/>
        <geometry>
            <mesh filename="package://iCub/meshes/visual/full_LeftRing0.obj" scale="1.0 1.0 1.0"/>
        </geometry>
        <material name="r_hand_ring_0_color">
            <color rgba="0.9 0.9 0.9 1.0"/>
        </material>
    </visual>
    <collision>
        <max_contacts>
        </max_contacts>
        <origin xyz="0.0 0.0 0.0" rpy="0.0 0.0 0.0"/>
        <geometry>
            <mesh filename="package://iCub/meshes/vhacd/full_LeftRing0_vhacd.obj" scale="1.0 1.0 1.0"/>
        </geometry>
    </collision>
</link>
<link name="l_hand_ring_1">
    <inertial>
        <origin xyz="0.0 0.0 0.0" rpy="0.0 0.0 0.0"/>
        <mass value="0.01"/>
        <inertia ixx="0.001" ixy="0.0" ixz="0.0" iyy="0.001" iyz="0.0" izz="0.001"/>
    </inertial>
    <visual>
        <origin xyz="0.0 0.0 0.0" rpy="1.5707963267949 0.0 3.14159265358979"/>
        <geometry>
            <mesh filename="package://iCub/meshes/visual/full_LeftRing1.obj" scale="1.0 1.0 1.0"/>
        </geometry>
        <material name="r_hand_ring_1_color">
            <color rgba="0.9 0.9 0.9 1.0"/>
        </material>
    </visual>
    <collision>
        <max_contacts>
        </max_contacts>
        <origin xyz="0.0 0.0 0.0" rpy="1.5707963267949 0.0 3.14159265358979"/>
        <geometry>
            <mesh filename="package://iCub/meshes/vhacd/full_LeftRing1_vhacd.obj" scale="1.0 1.0 1.0"/>
        </geometry>
    </collision>
</link>
<link name="l_hand_ring_2">
    <inertial>
        <origin xyz="0.0 0.0 0.0" rpy="0.0 0.0 0.0"/>
        <mass value="0.01"/>
        <inertia ixx="0.001" ixy="0.0" ixz="0.0" iyy="0.001" iyz="0.0" izz="0.001"/>
    </inertial>
    <visual>
        <origin xyz="0.0 0.0 0.0" rpy="0.0 0.0 3.14159265358979"/>
        <geometry>
            <mesh filename="package://iCub/meshes/visual/full_LeftRing2.obj" scale="1.0 1.0 1.0"/>
        </geometry>
        <material name="r_hand_ring_2_color">
            <color rgba="0.9 0.9 0.9 1.0"/>
        </material>
    </visual>
    <collision>
        <max_contacts>
        </max_contacts>
        <origin xyz="0.0 0.0 0.0" rpy="0.0 0.0 3.14159265358979"/>
        <geometry>
            <mesh filename="package://iCub/meshes/vhacd/full_LeftRing2_vhacd.obj" scale="1.0 1.0 1.0"/>
        </geometry>
    </collision>
</link>
<link name="l_hand_ring_3">
    <inertial>
        <origin xyz="0.0 0.0 0.0" rpy="0.0 0.0 0.0"/>
        <mass value="0.01"/>
        <inertia ixx="0.001" ixy="0.0" ixz="0.0" iyy="0.001" iyz="0.0" izz="0.001"/>
    </inertial>
    <visual>
        <origin xyz="0.0 0.0 0.0" rpy="3.14159265358979 0.0 3.14159265358979"/>
        <geometry>
            <mesh filename="package://iCub/meshes/visual/full_LeftRing3.obj" scale="1.0 1.0 1.0"/>
        </geometry>
        <material name="r_hand_ring_3_color">
            <color rgba="0.9 0.9 0.9 1.0"/>
        </material>
    </visual>
    <collision>
        <max_contacts>
        </max_contacts>
        <origin xyz="0.0 0.0 0.0" rpy="3.14159265358979 0.0 3.14159265358979"/>
        <geometry>
            <mesh filename="package://iCub/meshes/vhacd/full_LeftRing3_vhacd.obj" scale="1.0 1.0 1.0"/>
        </geometry>
    </collision>
</link>
<link name="l_hand_ring_tip">
    <inertial>
        <mass value="0.0"/>
        <inertia ixx="0.0" ixy="0.0" ixz="0.0" iyy="0.0" iyz="0.0" izz="0.0"/>
    </inertial>
</link>
<link name="l_hand_little_0">
    <inertial>
        <origin xyz="0.0 0.0 0.0" rpy="0.0 0.0 0.0"/>
        <mass value="0.01"/>
        <inertia ixx="0.001" ixy="0.0" ixz="0.0" iyy="0.001" iyz="0.0" izz="0.001"/>
    </inertial>
    <visual>
        <origin xyz="0.0 0.0 0.0" rpy="-3.14159265358979 -1.5707963267949 1.5707963267949"/>
        <geometry>
            <mesh filename="package://iCub/meshes/visual/full_LeftLittle0.obj" scale="1.0 1.0 1.0"/>
        </geometry>
        <material name="r_hand_little_0_color">
            <color rgba="0.9 0.9 0.9 1.0"/>
        </material>
    </visual>
    <collision>
        <max_contacts>
        </max_contacts>
        <origin xyz="0.0 0.0 0.0" rpy="-3.14159265358979 -1.5707963267949 1.5707963267949"/>
        <geometry>
            <mesh filename="package://iCub/meshes/vhacd/full_LeftLittle0_vhacd.obj" scale="1.0 1.0 1.0"/>
        </geometry>
    </collision>
</link>
<link name="l_hand_little_1">
    <inertial>
        <origin xyz="0.0 0.0 0.0" rpy="0.0 0.0 0.0"/>
        <mass value="0.01"/>
        <inertia ixx="0.001" ixy="0.0" ixz="0.0" iyy="0.001" iyz="0.0" izz="0.001"/>
    </inertial>
    <visual>
        <origin xyz="0.0 0.0 0.0" rpy="0.0 3.14159265358979 1.5707963267949"/>
        <geometry>
            <mesh filename="package://iCub/meshes/visual/full_LeftLittle1.obj" scale="1.0 1.0 1.0"/>
        </geometry>
        <material name="r_hand_little_1_color">
            <color rgba="0.9 0.9 0.9 1.0"/>
        </material>
    </visual>
    <collision>
        <max_contacts>
        </max_contacts>
        <origin xyz="0.0 0.0 0.0" rpy="0.0 3.14159265358979 1.5707963267949"/>
        <geometry>
            <mesh filename="package://iCub/meshes/vhacd/full_LeftLittle1_vhacd.obj" scale="1.0 1.0 1.0"/>
        </geometry>
    </collision>
</link>
<link name="l_hand_little_2">
    <inertial>
        <origin xyz="0.0 0.0 0.0" rpy="0.0 0.0 0.0"/>
        <mass value="0.01"/>
        <inertia ixx="0.001" ixy="0.0" ixz="0.0" iyy="0.001" iyz="0.0" izz="0.001"/>
    </inertial>
    <visual>
        <origin xyz="0.0 0.0 0.0" rpy="0.0 0.0 3.14159265358979"/>
        <geometry>
            <mesh filename="package://iCub/meshes/visual/full_LeftLittle2.obj" scale="1.0 1.0 1.0"/>
        </geometry>
        <material name="r_hand_little_2_color">
            <color rgba="0.9 0.9 0.9 1.0"/>
        </material>
    </visual>
    <collision>
        <max_contacts>
        </max_contacts>
        <origin xyz="0.0 0.0 0.0" rpy="0.0 0.0 3.14159265358979"/>
        <geometry>
            <mesh filename="package://iCub/meshes/vhacd/full_LeftLittle2_vhacd.obj" scale="1.0 1.0 1.0"/>
        </geometry>
    </collision>
</link>
<link name="l_hand_little_3">
    <inertial>
        <origin xyz="0.0 0.0 0.0" rpy="0.0 0.0 0.0"/>
        <mass value="0.01"/>
        <inertia ixx="0.001" ixy="0.0" ixz="0.0" iyy="0.001" iyz="0.0" izz="0.001"/>
    </inertial>
    <visual>
        <origin xyz="0.0 0.0 0.0" rpy="3.14159265358979 0.0 3.14159265358979"/>
        <geometry>
            <mesh filename="package://iCub/meshes/visual/full_LeftLittle3.obj" scale="1.0 1.0 1.0"/>
        </geometry>
        <material name="r_hand_little_3_color">
            <color rgba="0.9 0.9 0.9 1.0"/>
        </material>
    </visual>
    <collision>
        <max_contacts>
        </max_contacts>
        <origin xyz="0.0 0.0 0.0" rpy="3.14159265358979 0.0 3.14159265358979"/>
        <geometry>
            <mesh filename="package://iCub/meshes/vhacd/full_LeftLittle3_vhacd.obj" scale="1.0 1.0 1.0"/>
        </geometry>
    </collision>
</link>
<link name="l_hand_little_tip">
    <inertial>
        <mass value="0.0"/>
        <inertia ixx="0.0" ixy="0.0" ixz="0.0" iyy="0.0" iyz="0.0" izz="0.0"/>
    </inertial>
</link>
<link name="neck_1">
    <inertial>
        <origin xyz="0.0143705608 0.006567 -0.0063842" rpy="0.0 0.0 0.0"/>
        <mass value="0.125793"/>
        <inertia ixx="0.01" ixy="8.09156e-08" ixz="-3.74998e-08" iyy="0.01" iyz="9.39717e-06" izz="0.01"/>
    </inertial>
    <visual>
        <origin xyz="0.0142999998093 -0.079997 -0.0295008" rpy="0.0 0.0 0.0"/>
        <geometry>
            <mesh filename="package://iCub/meshes/visual/sim_sea_2-5_neck_1_prt-binary.obj" scale="0.001 0.001 0.001"/>
        </geometry>
        <material name="neck_1_color">
            <color rgba="0.9 0.9 0.9 1.0"/>
        </material>
    </visual>
    <collision>
        <origin xyz="0.0142999998093 -0.079997 -0.0295008" rpy="0.0 0.0 0.0"/>
        <geometry>
            <mesh filename="package://iCub/meshes/vhacd/sim_sea_2-5_neck_1_prt-binary_vhacd.obj" scale="0.001 0.001 0.001"/>
        </geometry>
    </collision>
</link>
<link name="neck_2">
    <inertial>
        <origin xyz="-8.8573009265e-05 0.035225 -0.01954527" rpy="0.0 0.0 0.0"/>
        <mass value="0.177087"/>
        <inertia ixx="0.01" ixy="-5.25591e-07" ixz="4.68307e-07" iyy="0.01" iyz="9.81476e-06" izz="0.01"/>
    </inertial>
    <visual>
        <origin xyz="0.0 -0.089497 -0.05030077" rpy="0.0 0.0 0.0"/>
        <geometry>
            <mesh filename="package://iCub/meshes/visual/sim_sea_2-5_neck_2_prt-binary.obj" scale="0.001 0.001 0.001"/>
        </geometry>
        <material name="neck_2_color">
            <color rgba="0.9 0.9 0.9 1.0"/>
        </material>
    </visual>
    <collision>
        <origin xyz="0.0 -0.089497 -0.05030077" rpy="0.0 0.0 0.0"/>
        <geometry>
            <mesh filename="package://iCub/meshes/vhacd/sim_sea_2-5_neck_2_prt-binary_vhacd.obj" scale="0.001 0.001 0.001"/>
        </geometry>
    </collision>
</link>
<link name="head">
    <inertial>
        <origin xyz="-0.000574157809265 0.113511 -0.0075392" rpy="0.0 0.0 0.0"/>
        <mass value="1.50691"/>
        <inertia ixx="0.00680478" ixy="-1.60267e-05" ixz="7.28166e-05" iyy="0.00634736" iyz="0.000292091" izz="0.00478116"/>
    </inertial>
    <visual>
        <origin xyz="0.0 -0.067153 -0.0295008" rpy="0.0 0.0 0.0"/>
        <geometry>
            <mesh filename="package://iCub/meshes/visual/sim_sea_2-5_head_prt-binary.obj" scale="0.001 0.001 0.001"/>
        </geometry>
        <material name="head_color">
            <color rgba="1.0 1.0 1.0 1.0"/>
        </material>
    </visual>
    <collision>
        <origin xyz="0.0 -0.067153 -0.0295008" rpy="0.0 0.0 0.0"/>
        <geometry>
            <mesh filename="package://iCub/meshes/vhacd/sim_sea_2-5_head_prt-binary_vhacd.obj" scale="0.001 0.001 0.001"/>
        </geometry>
    </collision>
</link>
<link name="eyes_tilt_frame">
    <inertial>
        <origin xyz="0.0 0.0 0.0" rpy="0.0 0.0 0.0"/>
        <mass value="0.001"/>
        <inertia ixx="0.001" ixy="0.0" ixz="0.0" iyy="0.001" iyz="0.0" izz="0.001"/>
    </inertial>
</link>
<link name="l_eye">
    <inertial>
        <origin xyz="0.0 0.0 0.0" rpy="0.0 0.0 0.0"/>
        <mass value="0.01"/>
        <inertia ixx="0.001" ixy="0.0" ixz="0.0" iyy="0.001" iyz="0.0" izz="0.001"/>
    </inertial>
    <visual>
        <origin xyz="0.0 0.0 0.01" rpy="0.0 0.0 0.0"/>
        <geometry>
            <mesh filename="package://iCub/meshes/visual/l_eye.obj" scale="1.0 1.0 1.0"/>
        </geometry>
        <material name="l_eye_color">
            <color rgba="1.0 1.0 1.0 1.0"/>
        </material>
    </visual>
</link>
<link name="l_eye_pupil">
    <inertial>
        <origin xyz="0.0 0.0 0.0" rpy="0.0 0.0 0.0"/>
        <mass value="0.0"/>
        <inertia ixx="0.0" ixy="0.0" ixz="0.0" iyy="0.0" iyz="0.0" izz="0.0"/>
    </inertial>
    <visual>
        <origin xyz="0.0 0.0 0.03" rpy="0.0 0.0 0.0"/>
        <geometry>
            <mesh filename="package://iCub/meshes/visual/l_eye_pupil.obj" scale="1.0 1.0 1.0"/>
        </geometry>
        <material name="l_eye_pupil_color">
            <color rgba="0.1 0.1 0.1 1.0"/>
        </material>
    </visual>
    <collision>
        <origin xyz="0.0 0.0 0.03" rpy="0.0 0.0 0.0"/>
        <geometry>
            <mesh filename="package://iCub/meshes/vhacd/l_eye_pupil_vhacd.obj" scale="1.0 1.0 1.0"/>
        </geometry>
        <material name="l_eye_pupil_color">
            <color rgba="0.1 0.1 0.1 1.0"/>
        </material>
    </collision>
</link>
<link name="r_eye">
    <inertial>
        <origin xyz="0.0 0.0 0.0" rpy="0.0 0.0 0.0"/>
        <mass value="0.01"/>
        <inertia ixx="0.001" ixy="0.0" ixz="0.0" iyy="0.001" iyz="0.0" izz="0.001"/>
    </inertial>
    <visual>
        <origin xyz="0.0 0.0 0.01" rpy="0.0 0.0 0.0"/>
        <geometry>
            <mesh filename="package://iCub/meshes/visual/r_eye.obj" scale="1.0 1.0 1.0"/>
        </geometry>
        <material name="r_eye_color">
            <color rgba="1.0 1.0 1.0 1.0"/>
        </material>
    </visual>
</link>
<link name="r_eye_pupil">
    <inertial>
        <origin xyz="0.0 0.0 0.0" rpy="0.0 0.0 0.0"/>
        <mass value="0.0"/>
        <inertia ixx="0.0" ixy="0.0" ixz="0.0" iyy="0.0" iyz="0.0" izz="0.0"/>
    </inertial>
    <visual>
        <origin xyz="0.0 0.0 0.03" rpy="0.0 0.0 0.0"/>
        <geometry>
            <mesh filename="package://iCub/meshes/visual/r_eye_pupil.obj" scale="1.0 1.0 1.0"/>
        </geometry>
        <material name="r_eye_pupil_color">
            <color rgba="0.1 0.1 0.1 1.0"/>
        </material>
    </visual>
    <collision>
        <origin xyz="0.0 0.0 0.03" rpy="0.0 0.0 0.0"/>
        <geometry>
            <mesh filename="package://iCub/meshes/vhacd/r_eye_pupil_vhacd.obj" scale="1.0 1.0 1.0"/>
        </geometry>
        <material name="r_eye_pupil_color">
            <color rgba="0.1 0.1 0.1 1.0"/>
        </material>
    </collision>
</link>
<link name="l_foot_dh_frame">
    <inertial>
        <mass value="0.0"/>
        <inertia ixx="0.0" ixy="0.0" ixz="0.0" iyy="0.0" iyz="0.0" izz="0.0"/>
    </inertial>
</link>
<link name="r_foot_dh_frame">
    <inertial>
        <mass value="0.0"/>
        <inertia ixx="0.0" ixy="0.0" ixz="0.0" iyy="0.0" iyz="0.0" izz="0.0"/>
    </inertial>
</link>
<joint name="world_to_root_link_joint" type="fixed">
    <axis xyz="0.0 0.0 1.0"/>
    <parent link="world"/>
    <child link="root_link"/>
</joint>
<joint name="r_hip_pitch" type="revolute">
    <origin xyz="0.0064515 0.026 -0.119913" rpy="0.0 0.0 -3.14159265359"/>
    <axis xyz="-2.22044604925e-16 -1.0 0.0"/>
    <limit effort="55.5" lower="-0.785398163397" upper="2.33874119767" velocity="5.1"/>
    <dynamics damping="1.0" friction="0.0"/>
    <parent link="root_link"/>
    <child link="r_hip_1"/>
</joint>
<joint name="r_hip_roll" type="revolute">
    <origin xyz="0.0 -0.0441 0.0" rpy="0.0 0.0 0.0"/>
    <axis xyz="-1.0 0.0 -2.22044604925e-16"/>
    <limit effort="37.0" lower="-0.349065850399" upper="2.09439510239" velocity="7.64"/>
    <dynamics damping="1.0" friction="0.0"/>
    <parent link="r_hip_1"/>
    <child link="r_hip_2"/>
</joint>
<joint name="r_leg_ft_sensor" type="fixed">
    <origin xyz="-0.0009363 1.39e-05 -0.0743" rpy="3.14159265359 0.0 0.0"/>
    <dynamics damping="0.1"/>
    <parent link="r_hip_2"/>
    <child link="r_hip_3"/>
</joint>
<joint name="r_hip_yaw" type="revolute">
    <origin xyz="0.0 0.0 0.0144" rpy="-3.14159265359 0.0 0.0"/>
    <axis xyz="0.0 -2.22044604925e-16 -1.0"/>
    <limit effort="37.0" lower="-1.3962634016" upper="1.3962634016" velocity="7.64"/>
    <dynamics damping="1.0" friction="0.0"/>
    <parent link="r_hip_3"/>
    <child link="r_upper_leg"/>
</joint>
<joint name="r_upper_leg_dh_frame_fixed_joint" type="fixed">
    <origin xyz="0.0 0.0 -0.145825" rpy="1.57079632679 0.0 0.0"/>
    <dynamics damping="0.1"/>
    <parent link="r_upper_leg"/>
    <child link="r_upper_leg_dh_frame"/>
</joint>
<joint name="r_knee" type="revolute">
    <origin xyz="0.0 0.0 -0.145825" rpy="0.0 0.0 0.0"/>
    <axis xyz="-2.22044604925e-16 -1.0 0.0"/>
    <limit effort="37.0" lower="-2.16420827247" upper="0.0698131700798" velocity="7.64"/>
    <dynamics damping="1.0" friction="0.0"/>
    <parent link="r_upper_leg"/>
    <child link="r_lower_leg"/>
</joint>
<joint name="r_ankle_pitch" type="revolute">
    <origin xyz="0.0 0.0 -0.2005" rpy="0.0 0.0 0.0"/>
    <axis xyz="2.22044604925e-16 1.0 0.0"/>
    <limit effort="37.0" lower="-0.610865238198" upper="0.610865238198" velocity="7.64"/>
    <dynamics damping="1.0" friction="0.0"/>
    <parent link="r_lower_leg"/>
    <child link="r_ankle_1"/>
</joint>
<joint name="r_ankle_roll" type="revolute">
    <origin xyz="0.0 0.0 0.0" rpy="0.0 0.0 0.0"/>
    <axis xyz="-1.0 0.0 -2.22044604925e-16"/>
    <limit effort="37.0" lower="-0.436332312999" upper="0.436332312999" velocity="7.64"/>
    <dynamics damping="1.0" friction="0.0"/>
    <parent link="r_ankle_1"/>
    <child link="r_ankle_2"/>
</joint>
<joint name="r_foot_ft_sensor" type="fixed">
    <origin xyz="-0.0035 0.0 -0.0605" rpy="3.14159265359 0.0 0.0"/>
    <dynamics damping="0.1"/>
    <parent link="r_ankle_2"/>
    <child link="r_foot"/>
</joint>
<joint name="l_hip_pitch" type="revolute">
    <origin xyz="0.0064515 -0.026 -0.119913" rpy="0.0 0.0 -3.14159265359"/>
    <axis xyz="-2.22044604925e-16 -1.0 0.0"/>
    <limit effort="55.5" lower="-0.785398163397" upper="2.33874119767" velocity="5.1"/>
    <dynamics damping="1.0" friction="0.0"/>
    <parent link="root_link"/>
    <child link="l_hip_1"/>
</joint>
<joint name="l_hip_roll" type="revolute">
    <origin xyz="0.0 0.0441 0.0" rpy="0.0 0.0 0.0"/>
    <axis xyz="1.0 0.0 2.22044604925e-16"/>
    <limit effort="37.0" lower="-0.349065850399" upper="2.09439510239" velocity="7.64"/>
    <dynamics damping="1.0" friction="0.0"/>
    <parent link="l_hip_1"/>
    <child link="l_hip_2"/>
</joint>
<joint name="l_leg_ft_sensor" type="fixed">
    <origin xyz="-0.0008302 7.52e-05 -0.0743" rpy="3.14159265359 0.0 0.0"/>
    <dynamics damping="0.1"/>
    <parent link="l_hip_2"/>
    <child link="l_hip_3"/>
</joint>
<joint name="l_hip_yaw" type="revolute">
    <origin xyz="0.0 0.0 0.0144" rpy="-3.14159265359 0.0 0.0"/>
    <axis xyz="0.0 2.22044604925e-16 1.0"/>
    <limit effort="37.0" lower="-1.3962634016" upper="1.3962634016" velocity="7.64"/>
    <dynamics damping="1.0" friction="0.0"/>
    <parent link="l_hip_3"/>
    <child link="l_upper_leg"/>
</joint>
<joint name="l_upper_leg_dh_frame_fixed_joint" type="fixed">
    <origin xyz="0.0 0.0 -0.145825" rpy="1.57079632679 0.0 0.0"/>
    <dynamics damping="0.1"/>
    <parent link="l_upper_leg"/>
    <child link="l_upper_leg_dh_frame"/>
</joint>
<joint name="l_knee" type="revolute">
    <origin xyz="0.0 0.0 -0.145825" rpy="0.0 0.0 0.0"/>
    <axis xyz="-2.22044604925e-16 -1.0 0.0"/>
    <limit effort="37.0" lower="-2.16420827247" upper="0.0698131700798" velocity="7.64"/>
    <dynamics damping="1.0" friction="0.0"/>
    <parent link="l_upper_leg"/>
    <child link="l_lower_leg"/>
</joint>
<joint name="l_ankle_pitch" type="revolute">
    <origin xyz="0.0 0.0 -0.2005" rpy="0.0 0.0 0.0"/>
    <axis xyz="2.22044604925e-16 1.0 0.0"/>
    <limit effort="37.0" lower="-0.610865238198" upper="0.610865238198" velocity="7.64"/>
    <dynamics damping="1.0" friction="0.0"/>
    <parent link="l_lower_leg"/>
    <child link="l_ankle_1"/>
</joint>
<joint name="l_ankle_roll" type="revolute">
    <origin xyz="0.0 0.0 0.0" rpy="0.0 0.0 0.0"/>
    <axis xyz="1.0 0.0 2.22044604925e-16"/>
    <limit effort="37.0" lower="-0.436332312999" upper="0.436332312999" velocity="7.64"/>
    <dynamics damping="1.0" friction="0.0"/>
    <parent link="l_ankle_1"/>
    <child link="l_ankle_2"/>
</joint>
<joint name="l_foot_ft_sensor" type="fixed">
    <origin xyz="-0.0035 0.0 -0.0605" rpy="3.14159265359 0.0 0.0"/>
    <dynamics damping="0.1"/>
    <parent link="l_ankle_2"/>
    <child link="l_foot"/>
</joint>
<joint name="torso_pitch" type="revolute">
    <origin xyz="0.0 0.0270463 0.0" rpy="1.57079632679 0.0 -1.57079632679"/>
    <axis xyz="1.0 0.0 0.0"/>
    <limit effort="50000.0" lower="-0.349065850399" upper="1.2217304764" velocity="50000.0"/>
    <dynamics damping="1.0" friction="0.0"/>
    <parent link="root_link"/>
    <child link="torso_1"/>
</joint>
<joint name="torso_roll" type="revolute">
    <origin xyz="0.0270462998093 0.032 -0.0573446" rpy="0.0 0.0 0.0"/>
    <axis xyz="0.0 0.0 -1.0"/>
    <limit effort="50000.0" lower="-0.523598775598" upper="0.523598775598" velocity="50000.0"/>
    <dynamics damping="1.0" friction="0.0"/>
    <parent link="torso_1"/>
    <child link="torso_2"/>
</joint>
<joint name="torso_yaw" type="revolute">
    <origin xyz="0.0 0.05 0.0628421" rpy="0.0 0.0 0.0"/>
    <axis xyz="0.0 -1.0 0.0"/>
    <limit effort="50000.0" lower="-0.872664625997" upper="0.872664625997" velocity="50000.0"/>
    <dynamics damping="1.0" friction="0.0"/>
    <parent link="torso_2"/>
    <child link="chest"/>
</joint>
<joint name="r_shoulder_pitch" type="revolute">
    <origin xyz="-0.120015999809 0.0928 0.0079693" rpy="0.0 -0.523598883792 3.14159265359"/>
    <axis xyz="-0.9659257753743923 0.0 0.25881923511860305"/>
    <limit effort="50000.0" lower="-1.66678943565" upper="0.174532925199" velocity="50000.0"/>
    <dynamics damping="1.0" friction="0.0"/>
    <parent link="chest"/>
    <child link="r_shoulder_1"/>
</joint>
<joint name="r_shoulder_roll" type="revolute">
    <origin xyz="-0.00758046573227 0.0 0.0142102463639" rpy="-0.270597611583 -0.252680154648 -1.50155680035"/>
    <axis xyz="-0.2588189595935754 0.0 -0.9659258492011169"/>
    <limit effort="50000.0" lower="0.0" upper="2.80648943721" velocity="50000.0"/>
    <dynamics damping="1.0" friction="0.0"/>
    <parent link="r_shoulder_1"/>
    <child link="r_shoulder_2"/>
</joint>
<joint name="r_shoulder_yaw" type="revolute">
    <origin xyz="-0.0253460713232 2.32750427306e-07 -0.00538764806457" rpy="-0.252689546175 0.0085186183214 0.067039889142"/>
    <axis xyz="0.9659258492011169 0.0 -0.2588189595935754"/>
    <limit effort="50000.0" lower="-0.645771823238" upper="1.3962634016" velocity="50000.0"/>
    <dynamics damping="1.0" friction="0.0"/>
    <parent link="r_shoulder_2"/>
    <child link="r_shoulder_3"/>
</joint>
<joint name="r_arm_ft_sensor" type="fixed">
    <origin xyz="-0.0508973017665 0.0 0.0291670296206" rpy="0.0 -1.30899700697 0.0"/>
    <dynamics damping="0.1"/>
    <parent link="r_shoulder_3"/>
    <child link="r_upper_arm"/>
</joint>
<joint name="r_elbow" type="revolute">
    <origin xyz="0.0 -0.0224999 0.07926" rpy="0.0 1.30899700697 0.0"/>
    <axis xyz="2.22044604925e-16 1.0 0.0"/>
    <limit effort="50000.0" lower="0.261799387799" upper="1.85004900711" velocity="50000.0"/>
    <dynamics damping="1.0" friction="0.0"/>
    <parent link="r_upper_arm"/>
    <child link="r_elbow_1"/>
</joint>
<joint name="r_wrist_prosup" type="revolute">
    <origin xyz="-0.0384624299027 0.0224999 -0.00522316819403" rpy="0.0 0.0 0.0"/>
    <axis xyz="0.9659258492011169 0.0 -0.2588189595935754"/>
    <limit effort="50000.0" lower="-1.0471975512" upper="1.0471975512" velocity="50000.0"/>
    <dynamics damping="1.0" friction="0.0"/>
    <parent link="r_elbow_1"/>
    <child link="r_forearm"/>
</joint>
<joint name="r_forearm_dh_frame_fixed_joint" type="fixed">
    <origin xyz="-0.102871102373 7.00000000002e-06 0.0275642213111" rpy="-0.261799319827 0.0 -1.57079632679"/>
    <dynamics damping="0.1"/>
    <parent link="r_forearm"/>
    <child link="r_forearm_dh_frame"/>
</joint>
<joint name="r_wrist_pitch" type="revolute">
    <origin xyz="-0.103505208873 7.00000000002e-06 0.0251977029936" rpy="0.0 0.0 0.0"/>
    <axis xyz="0.2588189595935754 0.0 0.9659258492011169"/>
    <limit effort="50000.0" lower="-1.3962634016" upper="0.436332312999" velocity="50000.0"/>
    <dynamics damping="1.0" friction="0.0"/>
    <parent link="r_forearm"/>
    <child link="r_wrist_1"/>
</joint>
<joint name="r_wrist_yaw" type="revolute">
    <origin xyz="0.000634106499644 -0.0194999 0.00236651831751" rpy="0.0 0.0 0.0"/>
    <axis xyz="2.22044604925e-16 -1.0 0.0"/>
    <limit effort="50000.0" lower="-0.349065850399" upper="0.436332312999" velocity="50000.0"/>
    <dynamics damping="1.0" friction="0.0"/>
    <parent link="r_wrist_1"/>
    <child link="r_hand"/>
</joint>
<joint name="r_hand_dh_frame_fixed_joint" type="fixed">
    <origin xyz="-0.0576542978428 -0.0055568 0.0136938323083" rpy="-1.57079632679 -0.261799319827 3.14159265359"/>
    <axis xyz="0.0 0.0 1.0"/>
    <parent link="r_hand"/>
    <child link="r_hand_dh_frame"/>
</joint>
<joint name="r_hand_thumb_0_joint" type="revolute">
    <origin xyz="-0.0318492127582281 -0.00405679999993591 0.0192026964178796" rpy="0.0880846384483103 -1.32396952212432 2.97584384270403"/>
    <axis xyz="0.0 0.0 1.0"/>
    <limit effort="50000.0" lower="0.0" upper="1.5707963267948966" velocity="50000.0"/>
    <dynamics friction="0.0"/>
    <parent link="r_hand"/>
    <child link="r_hand_thumb_0"/>
</joint>
<joint name="r_hand_thumb_1_joint" type="revolute">
    <origin xyz="0.0211 0.0049 -3.00038465791102e-19" rpy="-1.5707963267949 0.0 0.0"/>
    <axis xyz="0.0 0.0 1.0"/>
    <limit effort="50000.0" lower="0.0" upper="1.5707963267948966" velocity="50000.0"/>
    <dynamics friction="0.0"/>
    <parent link="r_hand_thumb_0"/>
    <child link="r_hand_thumb_1"/>
</joint>
<joint name="r_hand_thumb_2_joint" type="revolute">
    <origin xyz="0.026 0.0 0.0" rpy="0.0 0.0 0.0"/>
    <axis xyz="0.0 0.0 1.0"/>
    <limit effort="50000.0" lower="0.0" upper="1.5707963267948966" velocity="50000.0"/>
    <dynamics friction="0.0"/>
    <parent link="r_hand_thumb_1"/>
    <child link="r_hand_thumb_2"/>
</joint>
<joint name="r_hand_thumb_3_joint" type="revolute">
    <origin xyz="0.022 0.0 0.0" rpy="0.0 0.0 0.0"/>
    <axis xyz="0.0 0.0 1.0"/>
    <limit effort="50000.0" lower="0.0" upper="1.5707963267948966" velocity="50000.0"/>
    <dynamics friction="0.0"/>
    <parent link="r_hand_thumb_2"/>
    <child link="r_hand_thumb_3"/>
</joint>
<joint name="r_hand_thumb_tip_joint" type="fixed">
    <origin xyz="0.0168 0.0 0.0" rpy="-1.5707963267948966 0.0 0.0"/>
    <axis xyz="0.0 0.0 1.0"/>
    <parent link="r_hand_thumb_3"/>
    <child link="r_hand_thumb_tip"/>
</joint>
<joint name="r_hand_index_0_joint" type="revolute">
    <origin xyz="-0.0525584344285222 0.00514320000012944 0.039473341148855" rpy="1.48159614751736 -2.80851293007006 0.00659385709493776"/>
    <axis xyz="0.0 0.0 1.0"/>
    <limit effort="50000.0" lower="-0.3490658503988659" upper="0.0" velocity="50000.0"/>
    <dynamics friction="0.0"/>
    <parent link="r_hand"/>
    <child link="r_hand_index_0"/>
</joint>
<joint name="r_hand_index_1_joint" type="revolute">
    <origin xyz="0.0148 0.00175 -1.07156594925393e-19" rpy="1.5707963267949 0.0 0.0"/>
    <axis xyz="0.0 0.0 1.0"/>
    <limit effort="50000.0" lower="0.0" upper="1.5707963267948966" velocity="50000.0"/>
    <dynamics friction="0.0"/>
    <parent link="r_hand_index_0"/>
    <child link="r_hand_index_1"/>
</joint>
<joint name="r_hand_index_2_joint" type="revolute">
    <origin xyz="0.0259 0.0 0.0" rpy="0.0 0.0 0.0"/>
    <axis xyz="0.0 0.0 1.0"/>
    <limit effort="50000.0" lower="0.0" upper="1.5707963267948966" velocity="50000.0"/>
    <dynamics friction="0.0"/>
    <parent link="r_hand_index_1"/>
    <child link="r_hand_index_2"/>
</joint>
<joint name="r_hand_index_3_joint" type="revolute">
    <origin xyz="0.022 0.0 0.0" rpy="0.0 0.0 0.0"/>
    <axis xyz="0.0 0.0 1.0"/>
    <limit effort="50000.0" lower="0.0" upper="1.5707963267948966" velocity="50000.0"/>
    <dynamics friction="0.0"/>
    <parent link="r_hand_index_2"/>
    <child link="r_hand_index_3"/>
</joint>
<joint name="r_hand_index_tip_joint" type="fixed">
    <origin xyz="0.0168 0.0 0.0" rpy="-1.5707963267948966 0.0 0.0"/>
    <axis xyz="0.0 0.0 1.0"/>
    <parent link="r_hand_index_3"/>
    <child link="r_hand_index_tip"/>
</joint>
<joint name="r_hand_middle_0_joint" type="revolute">
    <origin xyz="-0.057540451023329 0.00604320000004786 0.0237779752515841" rpy="1.57079632679979 -2.87979333376279 2.06501482580279e-13"/>
    <axis xyz="0.0 0.0 1.0"/>
    <limit effort="50000.0" lower="0.0" upper="0.3490658503988659" velocity="50000.0"/>
    <dynamics friction="0.0"/>
    <parent link="r_hand"/>
    <child link="r_hand_middle_0"/>
</joint>
<joint name="r_hand_middle_1_joint" type="revolute">
    <origin xyz="0.0153 0.0022 -1.34711147906209e-19" rpy="1.5707963267949 0.0 0.0"/>
    <axis xyz="0.0 0.0 1.0"/>
    <limit effort="50000.0" lower="0.0" upper="1.5707963267948966" velocity="50000.0"/>
    <dynamics friction="0.0"/>
    <parent link="r_hand_middle_0"/>
    <child link="r_hand_middle_1"/>
</joint>
<joint name="r_hand_middle_2_joint" type="revolute">
    <origin xyz="0.0258 0.0 0.0" rpy="0.0 0.0 0.0"/>
    <axis xyz="0.0 0.0 1.0"/>
    <limit effort="50000.0" lower="0.0" upper="1.5707963267948966" velocity="50000.0"/>
    <dynamics friction="0.0"/>
    <parent link="r_hand_middle_1"/>
    <child link="r_hand_middle_2"/>
</joint>
<joint name="r_hand_middle_3_joint" type="revolute">
    <origin xyz="0.024 0.0 0.0" rpy="0.0 0.0 0.0"/>
    <axis xyz="0.0 0.0 1.0"/>
    <limit effort="50000.0" lower="0.0" upper="1.5707963267948966" velocity="50000.0"/>
    <dynamics friction="0.0"/>
    <parent link="r_hand_middle_2"/>
    <child link="r_hand_middle_3"/>
</joint>
<joint name="r_hand_middle_tip_joint" type="fixed">
    <origin xyz="0.0168 0.0 0.0" rpy="-1.5707963267948966 0.0 0.0"/>
    <axis xyz="0.0 0.0 1.0"/>
    <parent link="r_hand_middle_3"/>
    <child link="r_hand_middle_tip"/>
</joint>
<joint name="r_hand_ring_0_joint" type="revolute">
    <origin xyz="-0.0606910842022157 0.00544319999997171 0.00865822622681494" rpy="-1.54796540941373 -0.154343069643928 3.05377499029501"/>
    <axis xyz="0.0 0.0 1.0"/>
    <limit effort="50000.0" lower="0.0" upper="0.3490658503988659" velocity="50000.0"/>
    <dynamics friction="0.0"/>
    <parent link="r_hand"/>
    <child link="r_hand_ring_0"/>
</joint>
<joint name="r_hand_ring_1_joint" type="revolute">
    <origin xyz="0.0148 0.00175 -1.07156594925393e-19" rpy="1.5707963267949 0.0 0.0"/>
    <axis xyz="0.0 0.0 1.0"/>
    <limit effort="50000.0" lower="0.0" upper="1.5707963267948966" velocity="50000.0"/>
    <dynamics friction="0.0"/>
    <parent link="r_hand_ring_0"/>
    <child link="r_hand_ring_1"/>
</joint>
<joint name="r_hand_ring_2_joint" type="revolute">
    <origin xyz="0.0259 0.0 0.0" rpy="0.0 0.0 0.0"/>
    <axis xyz="0.0 0.0 1.0"/>
    <limit effort="50000.0" lower="0.0" upper="1.5707963267948966" velocity="50000.0"/>
    <dynamics friction="0.0"/>
    <parent link="r_hand_ring_1"/>
    <child link="r_hand_ring_2"/>
</joint>
<joint name="r_hand_ring_3_joint" type="revolute">
    <origin xyz="0.022 0.0 0.0" rpy="0.0 0.0 0.0"/>
    <axis xyz="0.0 0.0 1.0"/>
    <limit effort="50000.0" lower="0.0" upper="1.5707963267948966" velocity="50000.0"/>
    <dynamics friction="0.0"/>
    <parent link="r_hand_ring_2"/>
    <child link="r_hand_ring_3"/>
</joint>
<joint name="r_hand_ring_tip_joint" type="fixed">
    <origin xyz="0.0168 0.0 0.0" rpy="-1.5707963267948966 0.0 0.0"/>
    <axis xyz="0.0 0.0 1.0"/>
    <parent link="r_hand_ring_3"/>
    <child link="r_hand_ring_tip"/>
</joint>
<joint name="r_hand_little_0_joint" type="revolute">
    <origin xyz="-0.0636290045193172 0.00444319999987861 -0.0101109273025847" rpy="-1.54796540941373 -0.154343069643928 3.05377499029501"/>
    <axis xyz="0.0 0.0 1.0"/>
    <limit effort="50000.0" lower="0.0" upper="0.3490658503988659" velocity="50000.0"/>
    <dynamics friction="0.0"/>
    <parent link="r_hand"/>
    <child link="r_hand_little_0"/>
</joint>
<joint name="r_hand_little_1_joint" type="revolute">
    <origin xyz="0.0148 -0.00175 1.07156594925393e-19" rpy="1.5707963267949 0.0 0.0"/>
    <axis xyz="0.0 0.0 1.0"/>
    <limit effort="50000.0" lower="0.0" upper="1.5707963267948966" velocity="50000.0"/>
    <dynamics friction="0.0"/>
    <parent link="r_hand_little_0"/>
    <child link="r_hand_little_1"/>
</joint>
<joint name="r_hand_little_2_joint" type="revolute">
    <origin xyz="0.0219 0.0 0.0" rpy="0.0 0.0 0.0"/>
    <axis xyz="0.0 0.0 1.0"/>
    <limit effort="50000.0" lower="0.0" upper="1.5707963267948966" velocity="50000.0"/>
    <dynamics friction="0.0"/>
    <parent link="r_hand_little_1"/>
    <child link="r_hand_little_2"/>
</joint>
<joint name="r_hand_little_3_joint" type="revolute">
    <origin xyz="0.019 0.0 0.0" rpy="0.0 0.0 0.0"/>
    <axis xyz="0.0 0.0 1.0"/>
    <limit effort="50000.0" lower="0.0" upper="1.5707963267948966" velocity="50000.0"/>
    <dynamics friction="0.0"/>
    <parent link="r_hand_little_2"/>
    <child link="r_hand_little_3"/>
</joint>
<joint name="r_hand_little_tip_joint" type="fixed">
    <origin xyz="0.0168 0.0 0.0" rpy="-1.5707963267948966 0.0 0.0"/>
    <axis xyz="0.0 0.0 1.0"/>
    <parent link="r_hand_little_3"/>
    <child link="r_hand_little_tip"/>
</joint>
<joint name="l_shoulder_pitch" type="revolute">
    <origin xyz="0.120016000191 0.0928 0.0079693" rpy="0.0 0.0 0.0"/>
    <axis xyz="0.9659258492011169 0.0 0.2588189595935754"/>
    <limit effort="50000.0" lower="-1.66678943565" upper="0.174532925199" velocity="50000.0"/>
    <dynamics damping="1.0" friction="0.0"/>
    <parent link="chest"/>
    <child link="l_shoulder_1"/>
</joint>
<joint name="l_shoulder_roll" type="revolute">
    <origin xyz="-0.013671 0.0 0.0085204" rpy="0.270597317916 0.252680177542 -1.50155688559"/>
    <axis xyz="-0.2588189595935754 0.0 0.9659258492011169"/>
    <limit effort="50000.0" lower="0.0" upper="2.80648943721" velocity="50000.0"/>
    <dynamics damping="1.0" friction="0.0"/>
    <parent link="l_shoulder_1"/>
    <child link="l_shoulder_2"/>
</joint>
<joint name="l_shoulder_yaw" type="revolute">
    <origin xyz="0.0253143468312 1.11636438205e-07 -0.00540061656265" rpy="-0.252689546175 -0.0085186183214 -0.067039889142"/>
    <axis xyz="0.9659258492011169 0.0 0.2588189595935754"/>
    <limit effort="50000.0" lower="-0.645771823238" upper="1.3962634016" velocity="50000.0"/>
    <dynamics damping="1.0" friction="0.0"/>
    <parent link="l_shoulder_2"/>
    <child link="l_shoulder_3"/>
</joint>
<joint name="l_arm_ft_sensor" type="fixed">
    <origin xyz="0.0509301432452 0.0 0.0291758294659" rpy="0.0 -1.30899700697 3.14159265359"/>
    <dynamics damping="0.1"/>
    <parent link="l_shoulder_3"/>
    <child link="l_upper_arm"/>
</joint>
<joint name="l_elbow" type="revolute">
    <origin xyz="0.0 0.0339999 0.07926" rpy="0.0 -1.30899700697 -3.14159265359"/>
    <axis xyz="2.22044604925e-16 -1.0 0.0"/>
    <limit effort="50000.0" lower="0.261799387799" upper="1.85004900711" velocity="50000.0"/>
    <dynamics damping="2.0" friction="0.0"/>
    <parent link="l_upper_arm"/>
    <child link="l_elbow_1"/>
</joint>
<joint name="l_wrist_prosup" type="revolute">
    <origin xyz="0.0384624299027 0.0339999 -0.00522316819403" rpy="0.0 0.0 0.0"/>
    <axis xyz="0.9659258492011169 0.0 0.2588189595935754"/>
    <limit effort="50000.0" lower="-1.0471975512" upper="1.0471975512" velocity="50000.0"/>
    <dynamics damping="1.0" friction="0.0"/>
    <parent link="l_elbow_1"/>
    <child link="l_forearm"/>
</joint>
<joint name="l_forearm_dh_frame_fixed_joint" type="fixed">
    <origin xyz="0.102871102373 7.00000000002e-06 0.0275642213111" rpy="2.87979333376 0.0 1.57079632679"/>
    <dynamics damping="0.1"/>
    <parent link="l_forearm"/>
    <child link="l_forearm_dh_frame"/>
</joint>
<joint name="l_wrist_pitch" type="revolute">
    <origin xyz="0.103427563179 7.00000000002e-06 0.0254874807467" rpy="0.0 0.0 0.0"/>
    <axis xyz="0.2588189595935754 0.0 -0.9659258492011169"/>
    <limit effort="50000.0" lower="-1.3962634016" upper="0.436332312999" velocity="50000.0"/>
    <dynamics damping="1.0" friction="0.0"/>
    <parent link="l_forearm"/>
    <child link="l_wrist_1"/>
</joint>
<joint name="l_wrist_yaw" type="revolute">
    <origin xyz="-0.000634106499644 -0.0194999 0.00236651831751" rpy="0.0 0.0 0.0"/>
    <axis xyz="-2.22044604925e-16 1.0 0.0"/>
    <limit effort="50000.0" lower="-0.349065850399" upper="0.436332312999" velocity="50000.0"/>
    <dynamics damping="1.0" friction="0.0"/>
    <parent link="l_wrist_1"/>
    <child link="l_hand"/>
</joint>
<joint name="l_hand_dh_frame_fixed_joint" type="fixed">
    <origin xyz="0.0576542978428 -0.0055568 0.0136938323083" rpy="-1.57079632679 -0.261799319827 0.0"/>
    <axis xyz="0.0 0.0 1.0"/>
    <parent link="l_hand"/>
    <child link="l_hand_dh_frame"/>
</joint>
<joint name="l_hand_thumb_0_joint" type="revolute">
    <origin xyz="0.031849212758224 -0.00405680000005876 0.0192026964178938" rpy="3.05350801517967 -1.32396952212588 0.16574881085148"/>
    <axis xyz="0.0 0.0 1.0"/>
    <limit effort="50000.0" lower="0.0" upper="1.5707963267948966" velocity="50000.0"/>
    <dynamics friction="0.0"/>
    <parent link="l_hand"/>
    <child link="l_hand_thumb_0"/>
</joint>
<joint name="l_hand_thumb_1_joint" type="revolute">
    <origin xyz="0.0211 0.0049 -3.00038465791102e-19" rpy="1.5707963267949 0.0 0.0"/>
    <axis xyz="0.0 0.0 1.0"/>
    <limit effort="50000.0" lower="0.0" upper="1.5707963267948966" velocity="50000.0"/>
    <dynamics friction="0.0"/>
    <parent link="l_hand_thumb_0"/>
    <child link="l_hand_thumb_1"/>
</joint>
<joint name="l_hand_thumb_2_joint" type="revolute">
    <origin xyz="0.026 0.0 0.0" rpy="0.0 0.0 0.0"/>
    <axis xyz="0.0 0.0 1.0"/>
    <limit effort="50000.0" lower="0.0" upper="1.5707963267948966" velocity="50000.0"/>
    <dynamics friction="0.0"/>
    <parent link="l_hand_thumb_1"/>
    <child link="l_hand_thumb_2"/>
</joint>
<joint name="l_hand_thumb_3_joint" type="revolute">
    <origin xyz="0.022 0.0 0.0" rpy="0.0 0.0 0.0"/>
    <axis xyz="0.0 0.0 1.0"/>
    <limit effort="50000.0" lower="0.0" upper="1.5707963267948966" velocity="50000.0"/>
    <dynamics friction="0.0"/>
    <parent link="l_hand_thumb_2"/>
    <child link="l_hand_thumb_3"/>
</joint>
<joint name="l_hand_thumb_tip_joint" type="fixed">
    <origin xyz="0.0168 0.0 0.0" rpy="-1.5707963267948966 0.0 0.0"/>
    <axis xyz="0.0 0.0 1.0"/>
    <parent link="l_hand_thumb_3"/>
    <child link="l_hand_thumb_tip"/>
</joint>
<joint name="l_hand_index_0_joint" type="revolute">
    <origin xyz="0.0525584344284928 0.00514319999987161 0.0394733411489562" rpy="-1.48159614750735 -2.80851293007012 3.13499879649432"/>
    <axis xyz="0.0 0.0 -1.0"/>
    <limit effort="50000.0" lower="-0.3490658503988659" upper="0.0" velocity="50000.0"/>
    <dynamics friction="0.0"/>
    <parent link="l_hand"/>
    <child link="l_hand_index_0"/>
</joint>
<joint name="l_hand_index_1_joint" type="revolute">
    <origin xyz="0.0148 -0.00175 1.07156594925393e-19" rpy="1.5707963267949 0.0 0.0"/>
    <axis xyz="0.0 0.0 1.0"/>
    <limit effort="50000.0" lower="0.0" upper="1.5707963267948966" velocity="50000.0"/>
    <dynamics friction="0.0"/>
    <parent link="l_hand_index_0"/>
    <child link="l_hand_index_1"/>
</joint>
<joint name="l_hand_index_2_joint" type="revolute">
    <origin xyz="0.0259 0.0 0.0" rpy="0.0 0.0 0.0"/>
    <axis xyz="0.0 0.0 1.0"/>
    <limit effort="50000.0" lower="0.0" upper="1.5707963267948966" velocity="50000.0"/>
    <dynamics friction="0.0"/>
    <parent link="l_hand_index_1"/>
    <child link="l_hand_index_2"/>
</joint>
<joint name="l_hand_index_3_joint" type="revolute">
    <origin xyz="0.022 0.0 0.0" rpy="0.0 0.0 0.0"/>
    <axis xyz="0.0 0.0 1.0"/>
    <limit effort="50000.0" lower="0.0" upper="1.5707963267948966" velocity="50000.0"/>
    <dynamics friction="0.0"/>
    <parent link="l_hand_index_2"/>
    <child link="l_hand_index_3"/>
</joint>
<joint name="l_hand_index_tip_joint" type="fixed">
    <origin xyz="0.0168 0.0 0.0" rpy="-1.5707963267948966 0.0 0.0"/>
    <axis xyz="0.0 0.0 1.0"/>
    <parent link="l_hand_index_3"/>
    <child link="l_hand_index_tip"/>
</joint>
<joint name="l_hand_middle_0_joint" type="revolute">
    <origin xyz="0.0575404510232972 0.00604319999995216 0.0237779752516938" rpy="1.57079632679979 -0.261799319827 3.43740493372924e-17"/>
    <axis xyz="0.0 0.0 1.0"/>
    <limit effort="50000.0" lower="0.0" upper="0.3490658503988659" velocity="50000.0"/>
    <dynamics friction="0.0"/>
    <parent link="l_hand"/>
    <child link="l_hand_middle_0"/>
</joint>
<joint name="l_hand_middle_1_joint" type="revolute">
    <origin xyz="0.0153 -0.0022 1.34711147906209e-19" rpy="1.5707963267949 0.0 0.0"/>
    <axis xyz="0.0 0.0 1.0"/>
    <limit effort="50000.0" lower="0.0" upper="1.5707963267948966" velocity="50000.0"/>
    <dynamics friction="0.0"/>
    <parent link="l_hand_middle_0"/>
    <child link="l_hand_middle_1"/>
</joint>
<joint name="l_hand_middle_2_joint" type="revolute">
    <origin xyz="0.0258 0.0 0.0" rpy="0.0 0.0 0.0"/>
    <axis xyz="0.0 0.0 1.0"/>
    <limit effort="50000.0" lower="0.0" upper="1.5707963267948966" velocity="50000.0"/>
    <dynamics friction="0.0"/>
    <parent link="l_hand_middle_1"/>
    <child link="l_hand_middle_2"/>
</joint>
<joint name="l_hand_middle_3_joint" type="revolute">
    <origin xyz="0.024 0.0 0.0" rpy="0.0 0.0 0.0"/>
    <axis xyz="0.0 0.0 1.0"/>
    <limit effort="50000.0" lower="0.0" upper="1.5707963267948966" velocity="50000.0"/>
    <dynamics friction="0.0"/>
    <parent link="l_hand_middle_2"/>
    <child link="l_hand_middle_3"/>
</joint>
<joint name="l_hand_middle_tip_joint" type="fixed">
    <origin xyz="0.0168 0.0 0.0" rpy="-1.5707963267948966 0.0 0.0"/>
    <axis xyz="0.0 0.0 1.0"/>
    <parent link="l_hand_middle_3"/>
    <child link="l_hand_middle_tip"/>
</joint>
<joint name="l_hand_ring_0_joint" type="revolute">
    <origin xyz="0.0606910842021855 0.00544320000002766 0.00865822622691899" rpy="-1.54796540941373 -2.98724958394586 3.05377499029481"/>
    <axis xyz="0.0 0.0 -1.0"/>
    <limit effort="50000.0" lower="0.0" upper="0.3490658503988659" velocity="50000.0"/>
    <dynamics friction="0.0"/>
    <parent link="l_hand"/>
    <child link="l_hand_ring_0"/>
</joint>
<joint name="l_hand_ring_1_joint" type="revolute">
    <origin xyz="0.0148 -0.00175 1.07156594925393e-19" rpy="1.5707963267949 0.0 0.0"/>
    <axis xyz="0.0 0.0 1.0"/>
    <limit effort="50000.0" lower="0.0" upper="1.5707963267948966" velocity="50000.0"/>
    <dynamics friction="0.0"/>
    <parent link="l_hand_ring_0"/>
    <child link="l_hand_ring_1"/>
</joint>
<joint name="l_hand_ring_2_joint" type="revolute">
    <origin xyz="0.0259 0.0 0.0" rpy="0.0 0.0 0.0"/>
    <axis xyz="0.0 0.0 1.0"/>
    <limit effort="50000.0" lower="0.0" upper="1.5707963267948966" velocity="50000.0"/>
    <dynamics friction="0.0"/>
    <parent link="l_hand_ring_1"/>
    <child link="l_hand_ring_2"/>
</joint>
<joint name="l_hand_ring_3_joint" type="revolute">
    <origin xyz="0.022 0.0 0.0" rpy="0.0 0.0 0.0"/>
    <axis xyz="0.0 0.0 1.0"/>
    <limit effort="50000.0" lower="0.0" upper="1.5707963267948966" velocity="50000.0"/>
    <dynamics friction="0.0"/>
    <parent link="l_hand_ring_2"/>
    <child link="l_hand_ring_3"/>
</joint>
<joint name="l_hand_ring_tip_joint" type="fixed">
    <origin xyz="0.0168 0.0 0.0" rpy="-1.5707963267948966 0.0 0.0"/>
    <axis xyz="0.0 0.0 1.0"/>
    <parent link="l_hand_ring_3"/>
    <child link="l_hand_ring_tip"/>
</joint>
<joint name="l_hand_little_0_joint" type="revolute">
    <origin xyz="0.0636290045192898 0.00444320000012016 -0.0101109273024901" rpy="-1.54796540941373 -2.98724958394586 3.05377499029481"/>
    <axis xyz="0.0 0.0 -1.0"/>
    <limit effort="50000.0" lower="0.0" upper="0.3490658503988659" velocity="50000.0"/>
    <dynamics friction="0.0"/>
    <parent link="l_hand"/>
    <child link="l_hand_little_0"/>
</joint>
<joint name="l_hand_little_1_joint" type="revolute">
    <origin xyz="0.0148 0.00175 -1.07156594925393e-19" rpy="1.5707963267949 0.0 0.0"/>
    <axis xyz="0.0 0.0 1.0"/>
    <limit effort="50000.0" lower="0.0" upper="1.5707963267948966" velocity="50000.0"/>
    <dynamics friction="0.0"/>
    <parent link="l_hand_little_0"/>
    <child link="l_hand_little_1"/>
</joint>
<joint name="l_hand_little_2_joint" type="revolute">
    <origin xyz="0.0219 0.0 0.0" rpy="0.0 0.0 0.0"/>
    <axis xyz="0.0 0.0 1.0"/>
    <limit effort="50000.0" lower="0.0" upper="1.5707963267948966" velocity="50000.0"/>
    <dynamics friction="0.0"/>
    <parent link="l_hand_little_1"/>
    <child link="l_hand_little_2"/>
</joint>
<joint name="l_hand_little_3_joint" type="revolute">
    <origin xyz="0.019 0.0 0.0" rpy="0.0 0.0 0.0"/>
    <axis xyz="0.0 0.0 1.0"/>
    <limit effort="50000.0" lower="0.0" upper="1.5707963267948966" velocity="50000.0"/>
    <dynamics friction="0.0"/>
    <parent link="l_hand_little_2"/>
    <child link="l_hand_little_3"/>
</joint>
<joint name="l_hand_little_tip_joint" type="fixed">
    <origin xyz="0.0168 0.0 0.0" rpy="-1.5707963267948966 0.0 0.0"/>
    <axis xyz="0.0 0.0 1.0"/>
    <parent link="l_hand_little_3"/>
    <child link="l_hand_little_tip"/>
</joint>
<joint name="neck_pitch" type="revolute">
    <origin xyz="-0.0142999998093 0.172797 0.0053118" rpy="0.0 0.0 0.0"/>
    <axis xyz="-1.0 0.0 0.0"/>
    <limit effort="50000.0" lower="-0.698131700798" upper="0.383972435439" velocity="50000.0"/>
    <dynamics damping="1.0" friction="0.0"/>
    <parent link="chest"/>
    <child link="neck_1"/>
</joint>
<joint name="neck_roll" type="revolute">
    <origin xyz="0.0142999998093 0.0095 0.02079997" rpy="0.0 0.0 0.0"/>
    <axis xyz="0.0 0.0 1.0"/>
    <limit effort="50000.0" lower="-0.349065850399" upper="0.349065850399" velocity="50000.0"/>
    <dynamics damping="1.0" friction="0.0"/>
    <parent link="neck_1"/>
    <child link="neck_2"/>
</joint>
<joint name="neck_yaw" type="revolute">
    <origin xyz="0.0 -0.022344 -0.02079997" rpy="0.0 0.0 0.0"/>
    <axis xyz="0.0 1.0 0.0"/>
    <limit effort="50000.0" lower="-0.872664625997" upper="0.872664625997" velocity="50000.0"/>
    <dynamics damping="1.0" friction="0.0"/>
    <parent link="neck_2"/>
    <child link="head"/>
</joint>
<joint name="eyes_tilt" type="revolute">
    <origin xyz="1.90392435799427e-10 0.104896999999692 0.0455907000018309" rpy="-2.35618706953753 1.57079632678797 0.785405584052268"/>
    <axis xyz="0.0 0.0 1.0"/>
    <limit effort="50000.0" lower="-0.5235987755982988" upper="0.5235987755982988" velocity="50000.0"/>
    <parent link="head"/>
    <child link="eyes_tilt_frame"/>
</joint>
<joint name="l_eye_pan_joint" type="revolute">
    <origin xyz="0.0 0.0 -0.034" rpy="0.0 -1.5707963267949 0.0"/>
    <axis xyz="0.0 1.0 0.0"/>
    <limit effort="50000.0" lower="-0.5235987755982988" upper="0.9599310885968813" velocity="50000.0"/>
    <parent link="eyes_tilt_frame"/>
    <child link="l_eye"/>
</joint>
<joint name="l_eye_pupil_joint" type="fixed">
    <parent link="l_eye"/>
    <child link="l_eye_pupil"/>
</joint>
<joint name="r_eye_pan_joint" type="revolute">
    <origin xyz="0.0 0.0 0.034" rpy="0.0 -1.5707963267949 0.0"/>
    <axis xyz="0.0 1.0 0.0"/>
    <limit effort="50000.0" lower="-0.9599310885968813" upper="0.5235987755982988" velocity="50000.0"/>
    <parent link="eyes_tilt_frame"/>
    <child link="r_eye"/>
</joint>
<joint name="r_eye_pupil_joint" type="fixed">
    <parent link="r_eye"/>
    <child link="r_eye_pupil"/>
</joint>
<joint name="l_foot_dh_frame_fixed_joint" type="fixed">
    <origin xyz="0.0 0.0 0.004" rpy="0.0 1.5708 0.0"/>
    <axis xyz="0.0 0.0 0.0"/>
    <parent link="l_foot"/>
    <child link="l_foot_dh_frame"/>
</joint>
<joint name="r_foot_dh_frame_fixed_joint" type="fixed">
    <origin xyz="0.0 0.0 0.004" rpy="0.0 1.5708 0.0"/>
    <axis xyz="0.0 0.0 0.0"/>
    <parent link="r_foot"/>
    <child link="r_foot_dh_frame"/>
</joint>
</robot>
